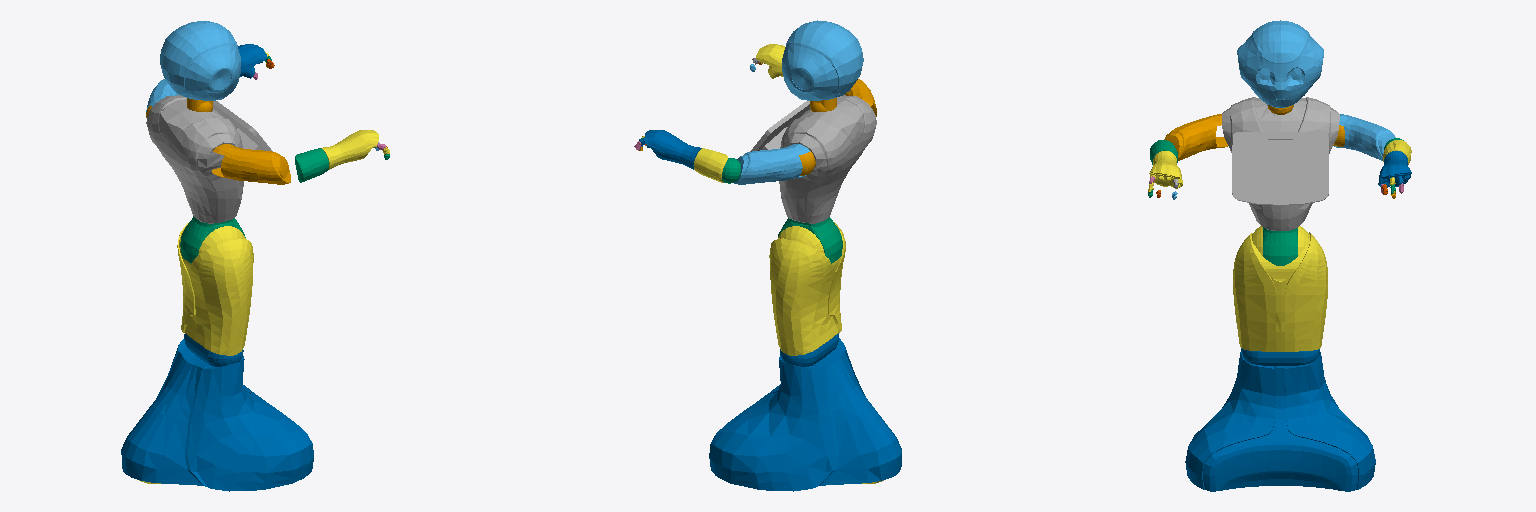
--- Facts derived from the render (not from the file) ---
3 views of the same robot in one strip: view 1: azimuth 30°, elevation 25°; view 2: azimuth 150°, elevation 25°; view 3: azimuth 270°, elevation 25° (orthographic).
Robot: JulietteY20MP — 85 links, 84 joints (19 revolute, 31 continuous, 34 fixed); root link base_link; default pose: joints at zero except 6 at the middle of their limits (LShoulderRoll = 0.7854, LElbowRoll = -0.7854, LHand = 0.5, RShoulderRoll = -0.7854, RElbowRoll = 0.7854, RHand = 0.5).
Visible links, largest first — view 1: Tibia, torso, Pelvis, Head, RBicep, r_wrist, Hip, RForeArm, l_wrist; view 2: Tibia, torso, Pelvis, Head, LBicep, l_wrist, Hip, LForeArm, r_wrist; view 3: Tibia, torso, Pelvis, Head, RBicep, LBicep, Hip, r_wrist, l_wrist.
Boxes of the visible links, left/top/right/bottom form: Tibia: left=121, top=334, right=313, bottom=491; torso: left=146, top=95, right=272, bottom=223; Pelvis: left=177, top=223, right=253, bottom=355; Head: left=160, top=21, right=240, bottom=100; RBicep: left=212, top=144, right=290, bottom=184; r_wrist: left=321, top=130, right=378, bottom=169; Hip: left=180, top=216, right=245, bottom=263; RForeArm: left=295, top=148, right=328, bottom=182; l_wrist: left=238, top=44, right=266, bottom=78; Tibia: left=709, top=333, right=901, bottom=491; torso: left=750, top=95, right=876, bottom=223; Pelvis: left=769, top=222, right=845, bottom=355; Head: left=782, top=20, right=863, bottom=100; LBicep: left=734, top=144, right=809, bottom=184; l_wrist: left=644, top=130, right=701, bottom=169; Hip: left=778, top=217, right=842, bottom=263; LForeArm: left=694, top=148, right=727, bottom=182; r_wrist: left=756, top=44, right=784, bottom=78; Tibia: left=1185, top=348, right=1375, bottom=491; torso: left=1222, top=97, right=1339, bottom=230; Pelvis: left=1233, top=226, right=1327, bottom=351; Head: left=1237, top=20, right=1323, bottom=107; RBicep: left=1164, top=114, right=1227, bottom=160; LBicep: left=1334, top=114, right=1395, bottom=160; Hip: left=1263, top=227, right=1297, bottom=265; r_wrist: left=1149, top=151, right=1182, bottom=188; l_wrist: left=1378, top=151, right=1411, bottom=187.
Bounding box of the posed robot: 0.5776 × 0.6574 × 1.21 m (x, y, z).
30 mesh visuals loaded from 47 distinct referenced files (30 binary STL); not drawn: 17 (reference not matched to a file when rendering).

URDF robot description (JulietteY20MP):
<?xml version="1.0" ?>
<!-- =================================================================================== -->
<!-- |    This document was autogenerated by xacro from gps/mjc_models/pepper_1.7/pepper1.0_generated_urdf/pepper_robot.xacro | -->
<!-- |    EDITING THIS FILE BY HAND IS NOT RECOMMENDED                                 | -->
<!-- =================================================================================== -->
<!--******************************************************************
 ****** File automatically generated by generate_urdf.py script ******
 *********************************************************************-->
<robot name="JulietteY20MP" xmlns:xacro="http://www.ros.org/wiki/xacro">

  <mujoco>
        <compiler 
        meshdir="meshes_mujoco/" 
        fusestatic= "true" 
        balanceinertia="true" 
        strippath="true" 
        discardvisual="false" />
  </mujoco>

  <joint name="HeadYaw" type="revolute">
    <parent link="torso"/>
    <child link="Neck"/>
    <origin rpy="0 0 0" xyz="-0.038 0 0.1699"/>
    <axis xyz="0 0 1.0"/>
    <limit effort="5.428" lower="-2.08567" upper="2.08567" velocity="7.33998"/>
  </joint>
  <link name="Neck">
    <inertial>
      <mass value="0.27391"/>
      <inertia ixx="0.000343501" ixy="0" ixz="-1.88563e-05" iyy="0.000493898" iyz="2.09863e-06" izz="0.000215252"/>
      <origin rpy="0 0 0" xyz="-0.00207 0 -0.02636"/>
    </inertial>
    <visual>
      <geometry>
        <mesh filename="package://pepper_meshes/meshes/1.0/HeadYaw.stl" scale="0.1 0.1 0.1"/>
      </geometry>
      <origin rpy="0 0 0" xyz="0 0 0"/>
    </visual>
    <collision>
      <geometry>
        <mesh filename="package://pepper_meshes/meshes/1.0/HeadYaw_0.10.stl" scale="0.1 0.1 0.1"/>
      </geometry>
      <origin rpy="0 0 0" xyz="0 0 0"/>
    </collision>
  </link>
  <joint name="HeadPitch" type="revolute">
    <parent link="Neck"/>
    <child link="Head"/>
    <origin rpy="0 0 0" xyz="0 0 0"/>
    <axis xyz="0 1.0 0"/>
    <limit effort="2.666" lower="-0.706858" upper="0.637045" velocity="9.22756"/>
  </joint>
  <link name="Head">
    <inertial>
      <mass value="1.51893"/>
      <inertia ixx="0.00597209" ixy="0" ixz="0.000125138" iyy="0.0059054" iyz="4.3428e-07" izz="0.00570374"/>
      <origin rpy="0 0 0" xyz="0.00312 0 0.11152"/>
    </inertial>
    <visual>
      <geometry>
        <mesh filename="package://pepper_meshes/meshes/1.0/HeadPitch.stl" scale="0.1 0.1 0.1"/>
      </geometry>
      <origin rpy="0 0 0" xyz="0 0 0"/>
    </visual>
    <collision>
      <geometry>
        <mesh filename="package://pepper_meshes/meshes/1.0/HeadPitch_0.10.stl" scale="0.1 0.1 0.1"/>
      </geometry>
      <origin rpy="0 0 0" xyz="0 0 0"/>
    </collision>
  </link>
  <joint name="HipRoll" type="revolute">
    <parent link="torso"/>
    <child link="Hip"/>
    <origin rpy="0 0 0" xyz="2e-05 0 -0.139"/>
    <axis xyz="1.0 0 0"/>
    <limit effort="10.1884" lower="-0.514872" upper="0.514872" velocity="2.27032"/>
  </joint>
  <link name="Hip">
    <inertial>
      <mass value="1.02338"/>
      <inertia ixx="0.00502422" ixy="0" ixz="-2.54911e-05" iyy="0.00640971" iyz="0.000159449" izz="0.00441082"/>
      <origin rpy="0 0 0" xyz="0.00032 0 -0.06039"/>
    </inertial>
    <visual>
      <geometry>
        <mesh filename="package://pepper_meshes/meshes/1.0/HipRoll.stl" scale="0.1 0.1 0.1"/>
      </geometry>
      <origin rpy="0 0 0" xyz="0 0 0"/>
    </visual>
    <collision>
      <geometry>
        <mesh filename="package://pepper_meshes/meshes/1.0/HipRoll_0.10.stl" scale="0.1 0.1 0.1"/>
      </geometry>
      <origin rpy="0 0 0" xyz="0 0 0"/>
    </collision>
  </link>
  <joint name="HipPitch" type="revolute">
    <parent link="Hip"/>
    <child link="Pelvis"/>
    <origin rpy="0 0 0" xyz="0 0 -0.079"/>
    <axis xyz="0 1.0 0"/>
    <limit effort="19.787" lower="-1.03847" upper="1.03847" velocity="2.93276"/>
  </joint>
  <link name="Pelvis">
    <inertial>
      <mass value="2.45917"/>
      <inertia ixx="0.034351" ixy="0" ixz="0.000223034" iyy="0.0303122" iyz="-8.37542e-05" izz="0.0143771"/>
      <origin rpy="0 0 0" xyz="0.00237 0 -0.09654"/>
    </inertial>
    <visual>
      <geometry>
        <mesh filename="package://pepper_meshes/meshes/1.0/HipPitch.stl" scale="0.1 0.1 0.1"/>
      </geometry>
      <origin rpy="0 0 0" xyz="0 0 0"/>
    </visual>
    <collision>
      <geometry>
        <mesh filename="package://pepper_meshes/meshes/1.0/HipPitch_0.10.stl" scale="0.1 0.1 0.1"/>
      </geometry>
      <origin rpy="0 0 0" xyz="0 0 0"/>
    </collision>
  </link>
  <joint name="KneePitch" type="revolute">
    <parent link="Pelvis"/>
    <child link="Tibia"/>
    <origin rpy="0 0 0" xyz="0 0 -0.268"/>
    <axis xyz="0 1.0 0"/>
    <limit effort="27.702" lower="-0.514872" upper="0.514872" velocity="2.93276"/>
  </joint>
  <link name="Tibia">
    <inertial>
      <mass value="11.6015"/>
      <inertia ixx="0.129229" ixy="-0.000401943" ixz="0.00048556" iyy="0.122839" iyz="-1.01666e-08" izz="0.108168"/>
      <origin rpy="0 0 0" xyz="0.00220451 0 -0.185729"/>
    </inertial>
    <visual>
      <geometry>
        <mesh filename="package://pepper_meshes/meshes/1.0/KneePitch.stl" scale="0.1 0.1 0.1"/>
      </geometry>
      <origin rpy="0 0 0" xyz="0 0 0"/>
    </visual>
    <collision>
      <geometry>
        <mesh filename="package://pepper_meshes/meshes/1.0/KneePitch_0.10.stl" scale="0.1 0.1 0.1"/>
      </geometry>
      <origin rpy="0 0 0" xyz="0 0 0"/>
    </collision>
  </link>
  <joint name="base_footprint_joint" type="fixed">
    <parent link="Tibia"/>
    <child link="base_footprint"/>
    <origin rpy="0 0 0" xyz="0 0 -0.334"/>
  </joint>
  <link name="base_footprint"/>
  <link name="base_link"/>
  <joint name="base_link_fixedjoint" type="fixed">
    <parent link="base_link"/>
    <child link="torso"/>
    <origin rpy="0 0 0" xyz="0 0 0"/>
    <axis xyz="0 0 0"/>
  </joint>
  <link name="torso">
    <inertial>
      <mass value="3.99533"/>
      <inertia ixx="0.0452761" ixy="0" ixz="0.00499091" iyy="0.0432702" iyz="-0.000266886" izz="0.0258881"/>
      <origin rpy="0 0 0" xyz="0.00322 0 -0.01029"/>
    </inertial>
    <visual>
      <geometry>
        <mesh filename="package://pepper_meshes/meshes/1.0/Torso.stl" scale="0.1 0.1 0.1"/>
      </geometry>
      <origin rpy="0 0 0" xyz="0 0 0"/>
    </visual>
    <collision>
      <geometry>
        <mesh filename="package://pepper_meshes/meshes/1.0/Torso_0.10.stl" scale="0.1 0.1 0.1"/>
      </geometry>
      <origin rpy="0 0 0" xyz="0 0 0"/>
    </collision>
  </link>
  <joint name="LShoulderPitch" type="revolute">
    <parent link="torso"/>
    <child link="LShoulder"/>
    <origin rpy="0 0 0" xyz="-0.057 0.14974 0.08682"/>
    <axis xyz="0 1.0 0"/>
    <limit effort="5.428" lower="-2.08567" upper="2.08567" velocity="7.33998"/>
  </joint>
  <link name="LShoulder">
    <inertial>
      <mass value="0.3125"/>
      <inertia ixx="0.000361198" ixy="-1.98347e-06" ixz="6.35907e-07" iyy="0.000137229" iyz="-5.68878e-06" izz="0.000399194"/>
      <origin rpy="0 0 0" xyz="0.00018 -0.01856 0.00099"/>
    </inertial>
    <visual>
      <geometry>
        <mesh filename="package://pepper_meshes/meshes/1.0/LShoulderPitch.stl" scale="0.1 0.1 0.1"/>
      </geometry>
      <origin rpy="0 0 0" xyz="0 0 0"/>
    </visual>
    <collision>
      <geometry>
        <mesh filename="package://pepper_meshes/meshes/1.0/LShoulderPitch_0.10.stl" scale="0.1 0.1 0.1"/>
      </geometry>
      <origin rpy="0 0 0" xyz="0 0 0"/>
    </collision>
  </link>
  <joint name="LShoulderRoll" type="revolute">
    <parent link="LShoulder"/>
    <child link="LBicep"/>
    <origin rpy="0 0 0" xyz="0 0 0"/>
    <axis xyz="0 0 1.0"/>
    <limit effort="2.666" lower="0.00872665" upper="1.56207" velocity="9.22756"/>
  </joint>
  <link name="LBicep">
    <inertial>
      <mass value="0.50527"/>
      <inertia ixx="0.000500872" ixy="-3.55918e-05" ixz="8.51263e-05" iyy="0.00126284" iyz="9.06813e-06" izz="0.00115718"/>
      <origin rpy="0 0 0" xyz="0.08151 0.01284 -0.01017"/>
    </inertial>
    <visual>
      <geometry>
        <mesh filename="package://pepper_meshes/meshes/1.0/LShoulderRoll.stl" scale="0.1 0.1 0.1"/>
      </geometry>
      <origin rpy="0 0 0" xyz="0 0 0"/>
    </visual>
    <collision>
      <geometry>
        <mesh filename="package://pepper_meshes/meshes/1.0/LShoulderRoll_0.10.stl" scale="0.1 0.1 0.1"/>
      </geometry>
      <origin rpy="0 0 0" xyz="0 0 0"/>
    </collision>
  </link>
  <joint name="LElbowYaw" type="revolute">
    <parent link="LBicep"/>
    <child link="LElbow"/>
    <origin rpy="0 -0.157079 0" xyz="0.1812 0.015 0.00013"/>
    <axis xyz="1.0 0 0"/>
    <limit effort="5.428" lower="-2.08567" upper="2.08567" velocity="7.33998"/>
  </joint>
  <link name="LElbow">
    <inertial>
      <mass value="0.27495"/>
      <inertia ixx="0.000122971" ixy="9.86024e-07" ixz="-2.55838e-05" iyy="0.000331766" iyz="-1.98925e-06" izz="0.000303047"/>
      <origin rpy="0 0 0" xyz="-0.02297 -0.00019 0.00119"/>
    </inertial>
    <visual>
      <geometry>
        <mesh filename="package://pepper_meshes/meshes/1.0/LElbowYaw.stl" scale="0.1 0.1 0.1"/>
      </geometry>
      <origin rpy="0 0 0" xyz="0 0 0"/>
    </visual>
    <collision>
      <geometry>
        <mesh filename="package://pepper_meshes/meshes/1.0/LElbowYaw_0.10.stl" scale="0.1 0.1 0.1"/>
      </geometry>
      <origin rpy="0 0 0" xyz="0 0 0"/>
    </collision>
  </link>
  <joint name="LElbowRoll" type="revolute">
    <parent link="LElbow"/>
    <child link="LForeArm"/>
    <origin rpy="0 0 0" xyz="0 0 0"/>
    <axis xyz="0 0 1.0"/>
    <limit effort="2.666" lower="-1.56207" upper="-0.00872665" velocity="9.22756"/>
  </joint>
  <link name="LForeArm">
    <inertial>
      <mass value="0.16579"/>
      <inertia ixx="0.00156513" ixy="1.47517e-05" ixz="-6.05746e-05" iyy="0.00173219" iyz="-1.7619e-07" izz="0.000273081"/>
      <origin rpy="0 0 0" xyz="0.0593 0.00271 -0.01014"/>
    </inertial>
    <visual>
      <geometry>
        <mesh filename="package://pepper_meshes/meshes/1.0/LElbowRoll.stl" scale="0.1 0.1 0.1"/>
      </geometry>
      <origin rpy="0 0 0" xyz="0 0 0"/>
    </visual>
    <collision>
      <geometry>
        <mesh filename="package://pepper_meshes/meshes/1.0/LElbowRoll_0.10.stl" scale="0.1 0.1 0.1"/>
      </geometry>
      <origin rpy="0 0 0" xyz="0 0 0"/>
    </collision>
  </link>
  <joint name="LWristYaw" type="revolute">
    <parent link="LForeArm"/>
    <child link="l_wrist"/>
    <origin rpy="0 0 0" xyz="0.15 0 0"/>
    <axis xyz="1.0 0 0"/>
    <limit effort="0.2014" lower="-1.82387" upper="1.82387" velocity="17.3835"/>
  </joint>
  <link name="l_wrist">
    <inertial>
      <mass value="0.27555"/>
      <inertia ixx="0.000151643" ixy="1.06629e-05" ixz="2.89509e-06" iyy="0.000431099" iyz="-3.13715e-06" izz="0.000456172"/>
      <origin rpy="0 0 0" xyz="0.03536 -0.00072 -0.00207"/>
    </inertial>
    <visual>
      <geometry>
        <mesh filename="package://pepper_meshes/meshes/1.0/LWristYaw.stl" scale="0.1 0.1 0.1"/>
      </geometry>
      <origin rpy="0 0 0" xyz="0 0 0"/>
    </visual>
    <collision>
      <geometry>
        <mesh filename="package://pepper_meshes/meshes/1.0/LWristYaw_0.10.stl" scale="0.1 0.1 0.1"/>
      </geometry>
      <origin rpy="0 0 0" xyz="0 0 0"/>
    </collision>
  </link>
  <joint name="LGrasp" type="revolute">
    <parent link="l_wrist"/>
    <child link="l_grasp_link"/>
    <origin rpy="0 0 0" xyz="0.065 0 0"/>
    <limit effort="0.0" lower="0.0" upper="0.0" velocity="0.0"/>
  </joint>
  <link name="l_grasp_link">
    <inertial>
      <mass value="2e-06"/>
      <inertia ixx="1.1e-09" ixy="0" ixz="0" iyy="1.1e-09" iyz="0" izz="1.1e-09"/>
    </inertial>
  </link>
  <joint name="LHand" type="revolute">
    <parent link="l_grasp_link"/>
    <child link="l_gripper"/>
    <origin rpy="0 0 0" xyz="0.025 0 0"/>
    <axis xyz="1.0 0 0"/>
    <limit effort="0.144" lower="0.02" upper="0.98" velocity="12.56"/>
  </joint>
  <link name="l_gripper">
    <inertial>
      <mass value="2e-06"/>
      <inertia ixx="1.1e-09" ixy="0" ixz="0" iyy="1.1e-09" iyz="0" izz="1.1e-09"/>
    </inertial>
  </link>
  <joint name="RShoulderPitch" type="revolute">
    <parent link="torso"/>
    <child link="RShoulder"/>
    <origin rpy="0 0 0" xyz="-0.057 -0.14974 0.08682"/>
    <axis xyz="0 1.0 0"/>
    <limit effort="5.428" lower="-2.08567" upper="2.08567" velocity="7.33998"/>
  </joint>
  <link name="RShoulder">
    <inertial>
      <mass value="0.3125"/>
      <inertia ixx="0.000361198" ixy="1.98347e-06" ixz="6.35907e-07" iyy="0.000137229" iyz="5.68878e-06" izz="0.000399194"/>
      <origin rpy="0 0 0" xyz="0.00018 0.01856 0.00099"/>
    </inertial>
    <visual>
      <geometry>
        <mesh filename="package://pepper_meshes/meshes/1.0/RShoulderPitch.stl" scale="0.1 0.1 0.1"/>
      </geometry>
      <origin rpy="0 0 0" xyz="0 0 0"/>
    </visual>
    <collision>
      <geometry>
        <mesh filename="package://pepper_meshes/meshes/1.0/RShoulderPitch_0.10.stl" scale="0.1 0.1 0.1"/>
      </geometry>
      <origin rpy="0 0 0" xyz="0 0 0"/>
    </collision>
  </link>
  <joint name="RShoulderRoll" type="revolute">
    <parent link="RShoulder"/>
    <child link="RBicep"/>
    <origin rpy="0 0 0" xyz="0 0 0"/>
    <axis xyz="0 0 1.0"/>
    <limit effort="2.666" lower="-1.56207" upper="-0.00872665" velocity="9.22756"/>
  </joint>
  <link name="RBicep">
    <inertial>
      <mass value="0.50527"/>
      <inertia ixx="0.000500872" ixy="3.55918e-05" ixz="8.51263e-05" iyy="0.00126284" iyz="-9.06813e-06" izz="0.00115718"/>
      <origin rpy="0 0 0" xyz="0.08151 -0.01284 -0.01017"/>
    </inertial>
    <visual>
      <geometry>
        <mesh filename="package://pepper_meshes/meshes/1.0/RShoulderRoll.stl" scale="0.1 0.1 0.1"/>
      </geometry>
      <origin rpy="0 0 0" xyz="0 0 0"/>
    </visual>
    <collision>
      <geometry>
        <mesh filename="package://pepper_meshes/meshes/1.0/RShoulderRoll_0.10.stl" scale="0.1 0.1 0.1"/>
      </geometry>
      <origin rpy="0 0 0" xyz="0 0 0"/>
    </collision>
  </link>
  <joint name="RElbowYaw" type="revolute">
    <parent link="RBicep"/>
    <child link="RElbow"/>
    <origin rpy="0 -0.157079 0" xyz="0.1812 -0.015 0.00013"/>
    <axis xyz="1.0 0 0"/>
    <limit effort="5.428" lower="-2.08567" upper="2.08567" velocity="7.33998"/>
  </joint>
  <link name="RElbow">
    <inertial>
      <mass value="0.27495"/>
      <inertia ixx="0.000122971" ixy="-9.86024e-07" ixz="-2.55838e-05" iyy="0.000331766" iyz="1.98925e-06" izz="0.000303047"/>
      <origin rpy="0 0 0" xyz="-0.02297 0.00019 0.00119"/>
    </inertial>
    <visual>
      <geometry>
        <mesh filename="package://pepper_meshes/meshes/1.0/RElbowYaw.stl" scale="0.1 0.1 0.1"/>
      </geometry>
      <origin rpy="0 0 0" xyz="0 0 0"/>
    </visual>
    <collision>
      <geometry>
        <mesh filename="package://pepper_meshes/meshes/1.0/RElbowYaw_0.10.stl" scale="0.1 0.1 0.1"/>
      </geometry>
      <origin rpy="0 0 0" xyz="0 0 0"/>
    </collision>
  </link>
  <joint name="RElbowRoll" type="revolute">
    <parent link="RElbow"/>
    <child link="RForeArm"/>
    <origin rpy="0 0 0" xyz="0 0 0"/>
    <axis xyz="0 0 1.0"/>
    <limit effort="2.666" lower="0.00872665" upper="1.56207" velocity="9.22756"/>
  </joint>
  <link name="RForeArm">
    <inertial>
      <mass value="0.16579"/>
      <inertia ixx="0.00156513" ixy="-1.47517e-05" ixz="-6.05746e-05" iyy="0.00173219" iyz="1.7619e-07" izz="0.000273081"/>
      <origin rpy="0 0 0" xyz="0.0593 -0.00271 -0.01014"/>
    </inertial>
    <visual>
      <geometry>
        <mesh filename="package://pepper_meshes/meshes/1.0/RElbowRoll.stl" scale="0.1 0.1 0.1"/>
      </geometry>
      <origin rpy="0 0 0" xyz="0 0 0"/>
    </visual>
    <collision>
      <geometry>
        <mesh filename="package://pepper_meshes/meshes/1.0/RElbowRoll_0.10.stl" scale="0.1 0.1 0.1"/>
      </geometry>
      <origin rpy="0 0 0" xyz="0 0 0"/>
    </collision>
  </link>
  <joint name="RWristYaw" type="revolute">
    <parent link="RForeArm"/>
    <child link="r_wrist"/>
    <origin rpy="0 0 0" xyz="0.15 0 0"/>
    <axis xyz="1.0 0 0"/>
    <limit effort="0.2014" lower="-1.82387" upper="1.82387" velocity="17.3835"/>
  </joint>
  <link name="r_wrist">
    <inertial>
      <mass value="0.27555"/>
      <inertia ixx="0.000151643" ixy="-1.06629e-05" ixz="2.89509e-06" iyy="0.000431099" iyz="3.13715e-06" izz="0.000456172"/>
      <origin rpy="0 0 0" xyz="0.03536 0.00072 -0.00207"/>
    </inertial>
    <visual>
      <geometry>
        <mesh filename="package://pepper_meshes/meshes/1.0/RWristYaw.stl" scale="0.1 0.1 0.1"/>
      </geometry>
      <origin rpy="0 0 0" xyz="0 0 0"/>
    </visual>
    <collision>
      <geometry>
        <mesh filename="package://pepper_meshes/meshes/1.0/RWristYaw_0.10.stl" scale="0.1 0.1 0.1"/>
      </geometry>
      <origin rpy="0 0 0" xyz="0 0 0"/>
    </collision>
  </link>
  <joint name="RGrasp" type="revolute">
    <parent link="r_wrist"/>
    <child link="r_grasp_link"/>
    <origin rpy="0.0 0 0" xyz="0.065 0 0"/>
    <limit effort="0.0" lower="0.0" upper="0.0" velocity="0.0"/>
  </joint>
  <link name="r_grasp_link">
    <inertial>
      <mass value="2e-06"/>
      <inertia ixx="1.1e-09" ixy="0" ixz="0" iyy="1.1e-09" iyz="0" izz="1.1e-09"/>
    </inertial>
  </link>
  <joint name="RHand" type="revolute">
    <parent link="r_grasp_link"/>
    <child link="r_gripper"/>
    <origin rpy="0 0 0" xyz="0.025 0 0"/>
    <axis xyz="1.0 0 0"/>
    <limit effort="0.144" lower="0.02" upper="0.98" velocity="12.56"/>
  </joint>
  <link name="r_gripper">
    <inertial>
      <mass value="2e-06"/>
      <inertia ixx="1.1e-09" ixy="0" ixz="0" iyy="1.1e-09" iyz="0" izz="1.1e-09"/>
    </inertial>
  </link>
  <link name="SonarBack_frame"/>
  <joint name="Sonar/Back_sensor_fixedjoint" type="fixed">
    <parent link="Tibia"/>
    <child link="SonarBack_frame"/>
    <origin rpy="-1.81761e-08 -0.209438 -3.14159" xyz="-0.0718 0 -0.0534"/>
    <axis xyz="0 0 0"/>
  </joint>
  <link name="CameraBottom_optical_frame"/>
  <joint name="CameraBottom_optical_frame_fixedjoint" type="fixed">
    <parent link="CameraBottom_frame"/>
    <child link="CameraBottom_optical_frame"/>
    <origin rpy="-1.57079632679 0 -1.57079632679" xyz="0 0 0"/>
  </joint>
  <link name="CameraDepth_optical_frame"/>
  <joint name="CameraDepth_optical_frame_fixedjoint" type="fixed">
    <parent link="CameraDepth_frame"/>
    <child link="CameraDepth_optical_frame"/>
    <origin rpy="-1.57079632679 0 -1.57079632679" xyz="0 0 0"/>
  </joint>
  <link name="LHandTouchBack_frame"/>
  <joint name="LHand/Touch/Back_sensor_fixedjoint" type="fixed">
    <parent link="l_wrist"/>
    <child link="LHandTouchBack_frame"/>
    <origin rpy="1.5708 -1.5708 -3.14159" xyz="0.0523 0 0.0304"/>
    <axis xyz="0 0 0"/>
  </joint>
  <link name="VerticalLeftLaser_frame"/>
  <joint name="LaserSensor/VerticalLeft_sensor_fixedjoint" type="fixed">
    <parent link="Tibia"/>
    <child link="VerticalLeftLaser_frame"/>
    <origin rpy="0 0.349066 0" xyz="0.0562 0 -0.0692"/>
    <axis xyz="0 0 0"/>
  </joint>
  <link name="SurroundingFrontLaser_device_frame"/>
  <joint name="LaserSensor/Front_sensor_fixedjoint" type="fixed">
    <parent link="Tibia"/>
    <child link="SurroundingFrontLaser_device_frame"/>
    <origin rpy="0 0.349066 0" xyz="0.0562 0 -0.0692"/>
    <axis xyz="0 0 0"/>
  </joint>
  <link name="BumperB_frame"/>
  <joint name="Bumper/Back_sensor_fixedjoint" type="fixed">
    <parent link="Tibia"/>
    <child link="BumperB_frame"/>
    <origin rpy="0 0 -3.14159" xyz="-0.251 0 -0.264"/>
    <axis xyz="0 0 0"/>
  </joint>
  <link name="SurroundingLeftLaser_frame"/>
  <joint name="LaserSensor/Left_projected_sensor_fixedjoint" type="fixed">
    <parent link="Tibia"/>
    <child link="SurroundingLeftLaser_frame"/>
    <origin rpy="0 0 1.75728" xyz="-0.018 0.0899 -0.334"/>
    <axis xyz="0 0 0"/>
  </joint>
  <link name="ShovelLaser_frame"/>
  <joint name="LaserSensor/Shovel_sensor_fixedjoint" type="fixed">
    <parent link="Tibia"/>
    <child link="ShovelLaser_frame"/>
    <origin rpy="0 0.349066 0" xyz="0.0562 0 -0.0692"/>
    <axis xyz="0 0 0"/>
  </joint>
  <link name="ImuTorsoAccelerometer_frame"/>
  <joint name="Accelerometer_sensor_fixedjoint" type="fixed">
    <parent link="torso"/>
    <child link="ImuTorsoAccelerometer_frame"/>
    <origin rpy="0 0 0" xyz="0.00239 -0.03575 0.00626"/>
    <axis xyz="0 0 0"/>
  </joint>
  <link name="RSpeaker_frame"/>
  <joint name="SpeakerRight_sensor_fixedjoint" type="fixed">
    <parent link="Head"/>
    <child link="RSpeaker_frame"/>
    <origin rpy="0 0 0" xyz="0 0 0"/>
    <axis xyz="0 0 0"/>
  </joint>
  <link name="SurroundingRightLaser_device_frame"/>
  <joint name="LaserSensor/Right_sensor_fixedjoint" type="fixed">
    <parent link="Tibia"/>
    <child link="SurroundingRightLaser_device_frame"/>
    <origin rpy="0 0.349066 -1.5708" xyz="-0.018 -0.0899 -0.0759"/>
    <axis xyz="0 0 0"/>
  </joint>
  <link name="LSpeaker_frame"/>
  <joint name="SpeakerLeft_sensor_fixedjoint" type="fixed">
    <parent link="Head"/>
    <child link="LSpeaker_frame"/>
    <origin rpy="0 0 0" xyz="0 0 0"/>
    <axis xyz="0 0 0"/>
  </joint>
  <link name="RHandTouchBack_frame"/>
  <joint name="RHand/Touch/Back_sensor_fixedjoint" type="fixed">
    <parent link="r_wrist"/>
    <child link="RHandTouchBack_frame"/>
    <origin rpy="1.5708 -1.5708 -3.14159" xyz="0.0523 0 0.0304"/>
    <axis xyz="0 0 0"/>
  </joint>
  <link name="CameraTop_frame"/>
  <joint name="CameraTop_sensor_fixedjoint" type="fixed">
    <parent link="Head"/>
    <child link="CameraTop_frame"/>
    <origin rpy="0 0 0" xyz="0.08601 0 0.16284"/>
    <axis xyz="0 0 0"/>
  </joint>
  <link name="SurroundingLeftLaser_device_frame"/>
  <joint name="LaserSensor/Left_sensor_fixedjoint" type="fixed">
    <parent link="Tibia"/>
    <child link="SurroundingLeftLaser_device_frame"/>
    <origin rpy="0 0.349066 1.5708" xyz="-0.018 0.0899 -0.0759"/>
    <axis xyz="0 0 0"/>
  </joint>
  <link name="CameraDepth_frame"/>
  <joint name="CameraDepth_sensor_fixedjoint" type="fixed">
    <parent link="Head"/>
    <child link="CameraDepth_frame"/>
    <origin rpy="0 0 0" xyz="0.05138 0.039 0.1194"/>
    <axis xyz="0 0 0"/>
  </joint>
  <link name="SurroundingRightLaser_frame"/>
  <joint name="LaserSensor/Right_projected_sensor_fixedjoint" type="fixed">
    <parent link="Tibia"/>
    <child link="SurroundingRightLaser_frame"/>
    <origin rpy="0 0 -1.75728" xyz="-0.018 -0.0899 -0.334"/>
    <axis xyz="0 0 0"/>
  </joint>
  <link name="HeadTouchFront_frame"/>
  <joint name="Head/Touch/Front_sensor_fixedjoint" type="fixed">
    <parent link="Head"/>
    <child link="HeadTouchFront_frame"/>
    <origin rpy="0 0.20944 0" xyz="0.028175 0 0.21267"/>
    <axis xyz="0 0 0"/>
  </joint>
  <link name="VerticalRightLaser_frame"/>
  <joint name="LaserSensor/VerticalRight_sensor_fixedjoint" type="fixed">
    <parent link="Tibia"/>
    <child link="VerticalRightLaser_frame"/>
    <origin rpy="0 0.349066 0" xyz="0.0562 0 -0.0692"/>
    <axis xyz="0 0 0"/>
  </joint>
  <link name="SonarFront_frame"/>
  <joint name="Sonar/Front_sensor_fixedjoint" type="fixed">
    <parent link="Tibia"/>
    <child link="SonarFront_frame"/>
    <origin rpy="0 -0.322858 0" xyz="0.0699 0 -0.1023"/>
    <axis xyz="0 0 0"/>
  </joint>
  <link name="BumperFL_frame"/>
  <joint name="Bumper/FrontLeft_sensor_fixedjoint" type="fixed">
    <parent link="Tibia"/>
    <child link="BumperFL_frame"/>
    <origin rpy="0 0 0.48886" xyz="0.129 0.227 -0.264"/>
    <axis xyz="0 0 0"/>
  </joint>
  <link name="CameraBottom_frame"/>
  <joint name="CameraBottom_sensor_fixedjoint" type="fixed">
    <parent link="Head"/>
    <child link="CameraBottom_frame"/>
    <origin rpy="0 0.698132 0" xyz="0.09262 0 0.06177"/>
    <axis xyz="0 0 0"/>
  </joint>
  <link name="CameraTop_optical_frame"/>
  <joint name="CameraTop_optical_frame_fixedjoint" type="fixed">
    <parent link="CameraTop_frame"/>
    <child link="CameraTop_optical_frame"/>
    <origin rpy="-1.57079632679 0 -1.57079632679" xyz="0 0 0"/>
  </joint>
  <link name="ImuBaseAccelerometer_frame"/>
  <joint name="AccelerometerBase_sensor_fixedjoint" type="fixed">
    <parent link="Tibia"/>
    <child link="ImuBaseAccelerometer_frame"/>
    <origin rpy="0 0 0" xyz="0.0147 -0.0017 -0.26319"/>
    <axis xyz="0 0 0"/>
  </joint>
  <link name="ImuTorsoGyrometer_frame"/>
  <joint name="Gyrometer_sensor_fixedjoint" type="fixed">
    <parent link="torso"/>
    <child link="ImuTorsoGyrometer_frame"/>
    <origin rpy="0 0 0" xyz="0.00204 -0.03491 -0.00959"/>
    <axis xyz="0 0 0"/>
  </joint>
  <link name="Tablet_frame"/>
  <joint name="Tablet_sensor_fixedjoint" type="fixed">
    <parent link="torso"/>
    <child link="Tablet_frame"/>
    <origin rpy="0 -0.523599 0" xyz="0.0839249 0 0.06251"/>
    <axis xyz="0 0 0"/>
  </joint>
  <link name="HeadTouchRear_frame"/>
  <joint name="Head/Touch/Rear_sensor_fixedjoint" type="fixed">
    <parent link="Head"/>
    <child link="HeadTouchRear_frame"/>
    <origin rpy="0 -0.314159 0" xyz="-0.03376 0 0.21052"/>
    <axis xyz="0 0 0"/>
  </joint>
  <link name="BumperFR_frame"/>
  <joint name="Bumper/FrontRight_sensor_fixedjoint" type="fixed">
    <parent link="Tibia"/>
    <child link="BumperFR_frame"/>
    <origin rpy="0 0 -0.48886" xyz="0.129 -0.227 -0.264"/>
    <axis xyz="0 0 0"/>
  </joint>
  <link name="SurroundingFrontLaser_frame"/>
  <joint name="LaserSensor/Front_projected_sensor_fixedjoint" type="fixed">
    <parent link="Tibia"/>
    <child link="SurroundingFrontLaser_frame"/>
    <origin rpy="0 0 0" xyz="0.0562 0 -0.334"/>
    <axis xyz="0 0 0"/>
  </joint>
  <link name="ChestButton_frame"/>
  <joint name="ChestBoard/Button_sensor_fixedjoint" type="fixed">
    <parent link="torso"/>
    <child link="ChestButton_frame"/>
    <origin rpy="0 0 0" xyz="0.049871 0.001588 0.055163"/>
    <axis xyz="0 0 0"/>
  </joint>
  <link name="HeadTouchMiddle_frame"/>
  <joint name="Head/Touch/Middle_sensor_fixedjoint" type="fixed">
    <parent link="Head"/>
    <child link="HeadTouchMiddle_frame"/>
    <origin rpy="0 -0.0349066 0" xyz="0.0041 0 0.2159"/>
    <axis xyz="0 0 0"/>
  </joint>
  <link name="RFinger41_link">
    <inertial>
      <mass value="2e-06"/>
      <inertia ixx="1.1e-09" ixy="0" ixz="0" iyy="1.1e-09" iyz="0" izz="1.1e-09"/>
    </inertial>
    <visual>
      <geometry>
        <mesh filename="package://pepper_meshes/meshes/1.0/RFinger41.stl" scale="0.1 0.1 0.1"/>
      </geometry>
      <origin rpy="0 0 0" xyz="0 0 0"/>
    </visual>
    <collision>
      <geometry>
        <mesh filename="package://pepper_meshes/meshes/1.0/RFinger41_0.10.stl" scale="0.1 0.1 0.1"/>
      </geometry>
      <origin rpy="0 0 0" xyz="0 0 0"/>
    </collision>
  </link>
  <joint name="RFinger41" type="continuous">
    <parent link="r_wrist"/>
    <child link="RFinger41_link"/>
    <origin rpy="1.74402 1.04064 -0.0683394" xyz="0.074 -0.0309 0"/>
    <axis xyz="0 0 1.0"/>
    <mimic joint="RHand" multiplier="0.872665" offset="0"/>
  </joint>
  <link name="LFinger42_link">
    <inertial>
      <mass value="2e-06"/>
      <inertia ixx="1.1e-09" ixy="0" ixz="0" iyy="1.1e-09" iyz="0" izz="1.1e-09"/>
    </inertial>
    <visual>
      <geometry>
        <mesh filename="package://pepper_meshes/meshes/1.0/LFinger42.stl" scale="0.1 0.1 0.1"/>
      </geometry>
      <origin rpy="0 0 0" xyz="0 0 0"/>
    </visual>
    <collision>
      <geometry>
        <mesh filename="package://pepper_meshes/meshes/1.0/LFinger42_0.10.stl" scale="0.1 0.1 0.1"/>
      </geometry>
      <origin rpy="0 0 0" xyz="0 0 0"/>
    </collision>
  </link>
  <joint name="LFinger42" type="continuous">
    <parent link="LFinger41_link"/>
    <child link="LFinger42_link"/>
    <origin rpy="0 0 -1.0472" xyz="0.018 0 0"/>
    <axis xyz="0 0 1.0"/>
    <mimic joint="LHand" multiplier="0.872665" offset="0"/>
  </joint>
  <link name="RFinger12_link">
    <inertial>
      <mass value="2e-06"/>
      <inertia ixx="1.1e-09" ixy="0" ixz="0" iyy="1.1e-09" iyz="0" izz="1.1e-09"/>
    </inertial>
    <visual>
      <geometry>
        <mesh filename="package://pepper_meshes/meshes/1.0/RFinger12.stl" scale="0.1 0.1 0.1"/>
      </geometry>
      <origin rpy="0 0 0" xyz="0 0 0"/>
    </visual>
    <collision>
      <geometry>
        <mesh filename="package://pepper_meshes/meshes/1.0/RFinger12_0.10.stl" scale="0.1 0.1 0.1"/>
      </geometry>
      <origin rpy="0 0 0" xyz="0 0 0"/>
    </collision>
  </link>
  <joint name="RFinger12" type="continuous">
    <parent link="RFinger11_link"/>
    <child link="RFinger12_link"/>
    <origin rpy="0 0 -1.0472" xyz="0.018 0 0"/>
    <axis xyz="0 0 1.0"/>
    <mimic joint="RHand" multiplier="0.872665" offset="0"/>
  </joint>
  <link name="LFinger33_link">
    <inertial>
      <mass value="2e-06"/>
      <inertia ixx="1.1e-09" ixy="0" ixz="0" iyy="1.1e-09" iyz="0" izz="1.1e-09"/>
    </inertial>
    <visual>
      <geometry>
        <mesh filename="package://pepper_meshes/meshes/1.0/LFinger33.stl" scale="0.1 0.1 0.1"/>
      </geometry>
      <origin rpy="0 0 0" xyz="0 0 0"/>
    </visual>
    <collision>
      <geometry>
        <mesh filename="package://pepper_meshes/meshes/1.0/LFinger33_0.10.stl" scale="0.1 0.1 0.1"/>
      </geometry>
      <origin rpy="0 0 0" xyz="0 0 0"/>
    </collision>
  </link>
  <joint name="LFinger33" type="continuous">
    <parent link="LFinger32_link"/>
    <child link="LFinger33_link"/>
    <origin rpy="0 0 -1.0472" xyz="0.018 0 0"/>
    <axis xyz="0 0 1.0"/>
    <mimic joint="LHand" multiplier="0.872665" offset="0"/>
  </joint>
  <link name="RFinger31_link">
    <inertial>
      <mass value="2e-06"/>
      <inertia ixx="1.1e-09" ixy="0" ixz="0" iyy="1.1e-09" iyz="0" izz="1.1e-09"/>
    </inertial>
    <visual>
      <geometry>
        <mesh filename="package://pepper_meshes/meshes/1.0/RFinger31.stl" scale="0.1 0.1 0.1"/>
      </geometry>
      <origin rpy="0 0 0" xyz="0 0 0"/>
    </visual>
    <collision>
      <geometry>
        <mesh filename="package://pepper_meshes/meshes/1.0/RFinger31_0.10.stl" scale="0.1 0.1 0.1"/>
      </geometry>
      <origin rpy="0 0 0" xyz="0 0 0"/>
    </collision>
  </link>
  <joint name="RFinger31" type="continuous">
    <parent link="r_wrist"/>
    <child link="RFinger31_link"/>
    <origin rpy="1.67523 1.04483 0.029316" xyz="0.0833 -0.0123 0.004"/>
    <axis xyz="0 0 1.0"/>
    <mimic joint="RHand" multiplier="0.872665" offset="0"/>
  </joint>
  <link name="LFinger21_link">
    <inertial>
      <mass value="2e-06"/>
      <inertia ixx="1.1e-09" ixy="0" ixz="0" iyy="1.1e-09" iyz="0" izz="1.1e-09"/>
    </inertial>
    <visual>
      <geometry>
        <mesh filename="package://pepper_meshes/meshes/1.0/LFinger21.stl" scale="0.1 0.1 0.1"/>
      </geometry>
      <origin rpy="0 0 0" xyz="0 0 0"/>
    </visual>
    <collision>
      <geometry>
        <mesh filename="package://pepper_meshes/meshes/1.0/LFinger21_0.10.stl" scale="0.1 0.1 0.1"/>
      </geometry>
      <origin rpy="0 0 0" xyz="0 0 0"/>
    </collision>
  </link>
  <joint name="LFinger21" type="continuous">
    <parent link="l_wrist"/>
    <child link="LFinger21_link"/>
    <origin rpy="1.5708 1.0472 -0.061086" xyz="0.0873 -0.0073 0.006"/>
    <axis xyz="0 0 1.0"/>
    <mimic joint="LHand" multiplier="0.872665" offset="0"/>
  </joint>
  <link name="RFinger32_link">
    <inertial>
      <mass value="2e-06"/>
      <inertia ixx="1.1e-09" ixy="0" ixz="0" iyy="1.1e-09" iyz="0" izz="1.1e-09"/>
    </inertial>
    <visual>
      <geometry>
        <mesh filename="package://pepper_meshes/meshes/1.0/RFinger32.stl" scale="0.1 0.1 0.1"/>
      </geometry>
      <origin rpy="0 0 0" xyz="0 0 0"/>
    </visual>
    <collision>
      <geometry>
        <mesh filename="package://pepper_meshes/meshes/1.0/RFinger32_0.10.stl" scale="0.1 0.1 0.1"/>
      </geometry>
      <origin rpy="0 0 0" xyz="0 0 0"/>
    </collision>
  </link>
  <joint name="RFinger32" type="continuous">
    <parent link="RFinger31_link"/>
    <child link="RFinger32_link"/>
    <origin rpy="0 0 -1.0472" xyz="0.018 0 0"/>
    <axis xyz="0 0 1.0"/>
    <mimic joint="RHand" multiplier="0.872665" offset="0"/>
  </joint>
  <link name="LFinger13_link">
    <inertial>
      <mass value="2e-06"/>
      <inertia ixx="1.1e-09" ixy="0" ixz="0" iyy="1.1e-09" iyz="0" izz="1.1e-09"/>
    </inertial>
    <visual>
      <geometry>
        <mesh filename="package://pepper_meshes/meshes/1.0/LFinger13.stl" scale="0.1 0.1 0.1"/>
      </geometry>
      <origin rpy="0 0 0" xyz="0 0 0"/>
    </visual>
    <collision>
      <geometry>
        <mesh filename="package://pepper_meshes/meshes/1.0/LFinger13_0.10.stl" scale="0.1 0.1 0.1"/>
      </geometry>
      <origin rpy="0 0 0" xyz="0 0 0"/>
    </collision>
  </link>
  <joint name="LFinger13" type="continuous">
    <parent link="LFinger12_link"/>
    <child link="LFinger13_link"/>
    <origin rpy="0 0 -1.0472" xyz="0.018 0 0"/>
    <axis xyz="0 0 1.0"/>
    <mimic joint="LHand" multiplier="0.872665" offset="0"/>
  </joint>
  <link name="LFinger32_link">
    <inertial>
      <mass value="2e-06"/>
      <inertia ixx="1.1e-09" ixy="0" ixz="0" iyy="1.1e-09" iyz="0" izz="1.1e-09"/>
    </inertial>
    <visual>
      <geometry>
        <mesh filename="package://pepper_meshes/meshes/1.0/LFinger32.stl" scale="0.1 0.1 0.1"/>
      </geometry>
      <origin rpy="0 0 0" xyz="0 0 0"/>
    </visual>
    <collision>
      <geometry>
        <mesh filename="package://pepper_meshes/meshes/1.0/LFinger32_0.10.stl" scale="0.1 0.1 0.1"/>
      </geometry>
      <origin rpy="0 0 0" xyz="0 0 0"/>
    </collision>
  </link>
  <joint name="LFinger32" type="continuous">
    <parent link="LFinger31_link"/>
    <child link="LFinger32_link"/>
    <origin rpy="0 0 -1.0472" xyz="0.018 0 0"/>
    <axis xyz="0 0 1.0"/>
    <mimic joint="LHand" multiplier="0.872665" offset="0"/>
  </joint>
  <link name="LFinger11_link">
    <inertial>
      <mass value="2e-06"/>
      <inertia ixx="1.1e-09" ixy="0" ixz="0" iyy="1.1e-09" iyz="0" izz="1.1e-09"/>
    </inertial>
    <visual>
      <geometry>
        <mesh filename="package://pepper_meshes/meshes/1.0/LFinger11.stl" scale="0.1 0.1 0.1"/>
      </geometry>
      <origin rpy="0 0 0" xyz="0 0 0"/>
    </visual>
    <collision>
      <geometry>
        <mesh filename="package://pepper_meshes/meshes/1.0/LFinger11_0.10.stl" scale="0.1 0.1 0.1"/>
      </geometry>
      <origin rpy="0 0 0" xyz="0 0 0"/>
    </collision>
  </link>
  <joint name="LFinger11" type="continuous">
    <parent link="l_wrist"/>
    <child link="LFinger11_link"/>
    <origin rpy="1.74402 1.04064 -0.0334335" xyz="0.0821 -0.0268 0.004"/>
    <axis xyz="0 0 1.0"/>
    <mimic joint="LHand" multiplier="0.872665" offset="0"/>
  </joint>
  <link name="RFinger22_link">
    <inertial>
      <mass value="2e-06"/>
      <inertia ixx="1.1e-09" ixy="0" ixz="0" iyy="1.1e-09" iyz="0" izz="1.1e-09"/>
    </inertial>
    <visual>
      <geometry>
        <mesh filename="package://pepper_meshes/meshes/1.0/RFinger22.stl" scale="0.1 0.1 0.1"/>
      </geometry>
      <origin rpy="0 0 0" xyz="0 0 0"/>
    </visual>
    <collision>
      <geometry>
        <mesh filename="package://pepper_meshes/meshes/1.0/RFinger22_0.10.stl" scale="0.1 0.1 0.1"/>
      </geometry>
      <origin rpy="0 0 0" xyz="0 0 0"/>
    </collision>
  </link>
  <joint name="RFinger22" type="continuous">
    <parent link="RFinger21_link"/>
    <child link="RFinger22_link"/>
    <origin rpy="0 0 -1.0472" xyz="0.018 0 0"/>
    <axis xyz="0 0 1.0"/>
    <mimic joint="RHand" multiplier="0.872665" offset="0"/>
  </joint>
  <link name="RFinger13_link">
    <inertial>
      <mass value="2e-06"/>
      <inertia ixx="1.1e-09" ixy="0" ixz="0" iyy="1.1e-09" iyz="0" izz="1.1e-09"/>
    </inertial>
    <visual>
      <geometry>
        <mesh filename="package://pepper_meshes/meshes/1.0/RFinger13.stl" scale="0.1 0.1 0.1"/>
      </geometry>
      <origin rpy="0 0 0" xyz="0 0 0"/>
    </visual>
    <collision>
      <geometry>
        <mesh filename="package://pepper_meshes/meshes/1.0/RFinger13_0.10.stl" scale="0.1 0.1 0.1"/>
      </geometry>
      <origin rpy="0 0 0" xyz="0 0 0"/>
    </collision>
  </link>
  <joint name="RFinger13" type="continuous">
    <parent link="RFinger12_link"/>
    <child link="RFinger13_link"/>
    <origin rpy="0 0 -1.0472" xyz="0.018 0 0"/>
    <axis xyz="0 0 1.0"/>
    <mimic joint="RHand" multiplier="0.872665" offset="0"/>
  </joint>
  <link name="LFinger22_link">
    <inertial>
      <mass value="2e-06"/>
      <inertia ixx="1.1e-09" ixy="0" ixz="0" iyy="1.1e-09" iyz="0" izz="1.1e-09"/>
    </inertial>
    <visual>
      <geometry>
        <mesh filename="package://pepper_meshes/meshes/1.0/LFinger22.stl" scale="0.1 0.1 0.1"/>
      </geometry>
      <origin rpy="0 0 0" xyz="0 0 0"/>
    </visual>
    <collision>
      <geometry>
        <mesh filename="package://pepper_meshes/meshes/1.0/LFinger22_0.10.stl" scale="0.1 0.1 0.1"/>
      </geometry>
      <origin rpy="0 0 0" xyz="0 0 0"/>
    </collision>
  </link>
  <joint name="LFinger22" type="continuous">
    <parent link="LFinger21_link"/>
    <child link="LFinger22_link"/>
    <origin rpy="0 0 -1.0472" xyz="0.018 0 0"/>
    <axis xyz="0 0 1.0"/>
    <mimic joint="LHand" multiplier="0.872665" offset="0"/>
  </joint>
  <link name="RFinger21_link">
    <inertial>
      <mass value="2e-06"/>
      <inertia ixx="1.1e-09" ixy="0" ixz="0" iyy="1.1e-09" iyz="0" izz="1.1e-09"/>
    </inertial>
    <visual>
      <geometry>
        <mesh filename="package://pepper_meshes/meshes/1.0/RFinger21.stl" scale="0.1 0.1 0.1"/>
      </geometry>
      <origin rpy="0 0 0" xyz="0 0 0"/>
    </visual>
    <collision>
      <geometry>
        <mesh filename="package://pepper_meshes/meshes/1.0/RFinger21_0.10.stl" scale="0.1 0.1 0.1"/>
      </geometry>
      <origin rpy="0 0 0" xyz="0 0 0"/>
    </collision>
  </link>
  <joint name="RFinger21" type="continuous">
    <parent link="r_wrist"/>
    <child link="RFinger21_link"/>
    <origin rpy="1.5708 1.0472 0.061086" xyz="0.0873 0.0073 0.006"/>
    <axis xyz="0 0 1.0"/>
    <mimic joint="RHand" multiplier="0.872665" offset="0"/>
  </joint>
  <link name="LFinger41_link">
    <inertial>
      <mass value="2e-06"/>
      <inertia ixx="1.1e-09" ixy="0" ixz="0" iyy="1.1e-09" iyz="0" izz="1.1e-09"/>
    </inertial>
    <visual>
      <geometry>
        <mesh filename="package://pepper_meshes/meshes/1.0/LFinger41.stl" scale="0.1 0.1 0.1"/>
      </geometry>
      <origin rpy="0 0 0" xyz="0 0 0"/>
    </visual>
    <collision>
      <geometry>
        <mesh filename="package://pepper_meshes/meshes/1.0/LFinger41_0.10.stl" scale="0.1 0.1 0.1"/>
      </geometry>
      <origin rpy="0 0 0" xyz="0 0 0"/>
    </collision>
  </link>
  <joint name="LFinger41" type="continuous">
    <parent link="l_wrist"/>
    <child link="LFinger41_link"/>
    <origin rpy="1.39757 1.04064 0.0683394" xyz="0.074 0.0309 0"/>
    <axis xyz="0 0 1.0"/>
    <mimic joint="LHand" multiplier="0.872665" offset="0"/>
  </joint>
  <link name="LFinger12_link">
    <inertial>
      <mass value="2e-06"/>
      <inertia ixx="1.1e-09" ixy="0" ixz="0" iyy="1.1e-09" iyz="0" izz="1.1e-09"/>
    </inertial>
    <visual>
      <geometry>
        <mesh filename="package://pepper_meshes/meshes/1.0/LFinger12.stl" scale="0.1 0.1 0.1"/>
      </geometry>
      <origin rpy="0 0 0" xyz="0 0 0"/>
    </visual>
    <collision>
      <geometry>
        <mesh filename="package://pepper_meshes/meshes/1.0/LFinger12_0.10.stl" scale="0.1 0.1 0.1"/>
      </geometry>
      <origin rpy="0 0 0" xyz="0 0 0"/>
    </collision>
  </link>
  <joint name="LFinger12" type="continuous">
    <parent link="LFinger11_link"/>
    <child link="LFinger12_link"/>
    <origin rpy="0 0 -1.0472" xyz="0.018 0 0"/>
    <axis xyz="0 0 1.0"/>
    <mimic joint="LHand" multiplier="0.872665" offset="0"/>
  </joint>
  <link name="RFinger23_link">
    <inertial>
      <mass value="2e-06"/>
      <inertia ixx="1.1e-09" ixy="0" ixz="0" iyy="1.1e-09" iyz="0" izz="1.1e-09"/>
    </inertial>
    <visual>
      <geometry>
        <mesh filename="package://pepper_meshes/meshes/1.0/RFinger23.stl" scale="0.1 0.1 0.1"/>
      </geometry>
      <origin rpy="0 0 0" xyz="0 0 0"/>
    </visual>
    <collision>
      <geometry>
        <mesh filename="package://pepper_meshes/meshes/1.0/RFinger23_0.10.stl" scale="0.1 0.1 0.1"/>
      </geometry>
      <origin rpy="0 0 0" xyz="0 0 0"/>
    </collision>
  </link>
  <joint name="RFinger23" type="continuous">
    <parent link="RFinger22_link"/>
    <child link="RFinger23_link"/>
    <origin rpy="0 0 -1.0472" xyz="0.018 0 0"/>
    <axis xyz="0 0 1.0"/>
    <mimic joint="RHand" multiplier="0.872665" offset="0"/>
  </joint>
  <link name="RFinger11_link">
    <inertial>
      <mass value="2e-06"/>
      <inertia ixx="1.1e-09" ixy="0" ixz="0" iyy="1.1e-09" iyz="0" izz="1.1e-09"/>
    </inertial>
    <visual>
      <geometry>
        <mesh filename="package://pepper_meshes/meshes/1.0/RFinger11.stl" scale="0.1 0.1 0.1"/>
      </geometry>
      <origin rpy="0 0 0" xyz="0 0 0"/>
    </visual>
    <collision>
      <geometry>
        <mesh filename="package://pepper_meshes/meshes/1.0/RFinger11_0.10.stl" scale="0.1 0.1 0.1"/>
      </geometry>
      <origin rpy="0 0 0" xyz="0 0 0"/>
    </collision>
  </link>
  <joint name="RFinger11" type="continuous">
    <parent link="r_wrist"/>
    <child link="RFinger11_link"/>
    <origin rpy="1.39757 1.04064 0.0334335" xyz="0.0821 0.0268 0.004"/>
    <axis xyz="0 0 1.0"/>
    <mimic joint="RHand" multiplier="0.872665" offset="0"/>
  </joint>
  <link name="LFinger23_link">
    <inertial>
      <mass value="2e-06"/>
      <inertia ixx="1.1e-09" ixy="0" ixz="0" iyy="1.1e-09" iyz="0" izz="1.1e-09"/>
    </inertial>
    <visual>
      <geometry>
        <mesh filename="package://pepper_meshes/meshes/1.0/LFinger23.stl" scale="0.1 0.1 0.1"/>
      </geometry>
      <origin rpy="0 0 0" xyz="0 0 0"/>
    </visual>
    <collision>
      <geometry>
        <mesh filename="package://pepper_meshes/meshes/1.0/LFinger23_0.10.stl" scale="0.1 0.1 0.1"/>
      </geometry>
      <origin rpy="0 0 0" xyz="0 0 0"/>
    </collision>
  </link>
  <joint name="LFinger23" type="continuous">
    <parent link="LFinger22_link"/>
    <child link="LFinger23_link"/>
    <origin rpy="0 0 -1.0472" xyz="0.018 0 0"/>
    <axis xyz="0 0 1.0"/>
    <mimic joint="LHand" multiplier="0.872665" offset="0"/>
  </joint>
  <link name="LFinger43_link">
    <inertial>
      <mass value="2e-06"/>
      <inertia ixx="1.1e-09" ixy="0" ixz="0" iyy="1.1e-09" iyz="0" izz="1.1e-09"/>
    </inertial>
    <visual>
      <geometry>
        <mesh filename="package://pepper_meshes/meshes/1.0/LFinger43.stl" scale="0.1 0.1 0.1"/>
      </geometry>
      <origin rpy="0 0 0" xyz="0 0 0"/>
    </visual>
    <collision>
      <geometry>
        <mesh filename="package://pepper_meshes/meshes/1.0/LFinger43_0.10.stl" scale="0.1 0.1 0.1"/>
      </geometry>
      <origin rpy="0 0 0" xyz="0 0 0"/>
    </collision>
  </link>
  <joint name="LFinger43" type="continuous">
    <parent link="LFinger42_link"/>
    <child link="LFinger43_link"/>
    <origin rpy="0 0 -1.0472" xyz="0.018 0 0"/>
    <axis xyz="0 0 1.0"/>
    <mimic joint="LHand" multiplier="0.872665" offset="0"/>
  </joint>
  <link name="RFinger43_link">
    <inertial>
      <mass value="2e-06"/>
      <inertia ixx="1.1e-09" ixy="0" ixz="0" iyy="1.1e-09" iyz="0" izz="1.1e-09"/>
    </inertial>
    <visual>
      <geometry>
        <mesh filename="package://pepper_meshes/meshes/1.0/RFinger43.stl" scale="0.1 0.1 0.1"/>
      </geometry>
      <origin rpy="0 0 0" xyz="0 0 0"/>
    </visual>
    <collision>
      <geometry>
        <mesh filename="package://pepper_meshes/meshes/1.0/RFinger43_0.10.stl" scale="0.1 0.1 0.1"/>
      </geometry>
      <origin rpy="0 0 0" xyz="0 0 0"/>
    </collision>
  </link>
  <joint name="RFinger43" type="continuous">
    <parent link="RFinger42_link"/>
    <child link="RFinger43_link"/>
    <origin rpy="0 0 -1.0472" xyz="0.018 0 0"/>
    <axis xyz="0 0 1.0"/>
    <mimic joint="RHand" multiplier="0.872665" offset="0"/>
  </joint>
  <link name="RFinger42_link">
    <inertial>
      <mass value="2e-06"/>
      <inertia ixx="1.1e-09" ixy="0" ixz="0" iyy="1.1e-09" iyz="0" izz="1.1e-09"/>
    </inertial>
    <visual>
      <geometry>
        <mesh filename="package://pepper_meshes/meshes/1.0/RFinger42.stl" scale="0.1 0.1 0.1"/>
      </geometry>
      <origin rpy="0 0 0" xyz="0 0 0"/>
    </visual>
    <collision>
      <geometry>
        <mesh filename="package://pepper_meshes/meshes/1.0/RFinger42_0.10.stl" scale="0.1 0.1 0.1"/>
      </geometry>
      <origin rpy="0 0 0" xyz="0 0 0"/>
    </collision>
  </link>
  <joint name="RFinger42" type="continuous">
    <parent link="RFinger41_link"/>
    <child link="RFinger42_link"/>
    <origin rpy="0 0 -1.0472" xyz="0.018 0 0"/>
    <axis xyz="0 0 1.0"/>
    <mimic joint="RHand" multiplier="0.872665" offset="0"/>
  </joint>
  <link name="LFinger31_link">
    <inertial>
      <mass value="2e-06"/>
      <inertia ixx="1.1e-09" ixy="0" ixz="0" iyy="1.1e-09" iyz="0" izz="1.1e-09"/>
    </inertial>
    <visual>
      <geometry>
        <mesh filename="package://pepper_meshes/meshes/1.0/LFinger31.stl" scale="0.1 0.1 0.1"/>
      </geometry>
      <origin rpy="0 0 0" xyz="0 0 0"/>
    </visual>
    <collision>
      <geometry>
        <mesh filename="package://pepper_meshes/meshes/1.0/LFinger31_0.10.stl" scale="0.1 0.1 0.1"/>
      </geometry>
      <origin rpy="0 0 0" xyz="0 0 0"/>
    </collision>
  </link>
  <joint name="LFinger31" type="continuous">
    <parent link="l_wrist"/>
    <child link="LFinger31_link"/>
    <origin rpy="1.46636 1.04483 -0.029314" xyz="0.0833 0.0123 0.004"/>
    <axis xyz="0 0 1.0"/>
    <mimic joint="LHand" multiplier="0.872665" offset="0"/>
  </joint>
  <link name="RFinger33_link">
    <inertial>
      <mass value="2e-06"/>
      <inertia ixx="1.1e-09" ixy="0" ixz="0" iyy="1.1e-09" iyz="0" izz="1.1e-09"/>
    </inertial>
    <visual>
      <geometry>
        <mesh filename="package://pepper_meshes/meshes/1.0/RFinger33.stl" scale="0.1 0.1 0.1"/>
      </geometry>
      <origin rpy="0 0 0" xyz="0 0 0"/>
    </visual>
    <collision>
      <geometry>
        <mesh filename="package://pepper_meshes/meshes/1.0/RFinger33_0.10.stl" scale="0.1 0.1 0.1"/>
      </geometry>
      <origin rpy="0 0 0" xyz="0 0 0"/>
    </collision>
  </link>
  <joint name="RFinger33" type="continuous">
    <parent link="RFinger32_link"/>
    <child link="RFinger33_link"/>
    <origin rpy="0 0 -1.0472" xyz="0.018 0 0"/>
    <axis xyz="0 0 1.0"/>
    <mimic joint="RHand" multiplier="0.872665" offset="0"/>
  </joint>
  <link name="LThumb1_link">
    <inertial>
      <mass value="2e-06"/>
      <inertia ixx="1.1e-09" ixy="0" ixz="0" iyy="1.1e-09" iyz="0" izz="1.1e-09"/>
    </inertial>
    <visual>
      <geometry>
        <mesh filename="package://pepper_meshes/meshes/1.0/LThumb1.stl" scale="0.1 0.1 0.1"/>
      </geometry>
      <origin rpy="0 0 0" xyz="0 0 0"/>
    </visual>
    <collision>
      <geometry>
        <mesh filename="package://pepper_meshes/meshes/1.0/LThumb1_0.10.stl" scale="0.1 0.1 0.1"/>
      </geometry>
      <origin rpy="0 0 0" xyz="0 0 0"/>
    </collision>
  </link>
  <joint name="LThumb1" type="continuous">
    <parent link="l_wrist"/>
    <child link="LThumb1_link"/>
    <origin rpy="-1.95836 0.60626 0.533978" xyz="0.0482 -0.0357 -0.0199"/>
    <axis xyz="0 0 1.0"/>
    <mimic joint="LHand" multiplier="0.872665" offset="0"/>
  </joint>
  <link name="RThumb2_link">
    <inertial>
      <mass value="2e-06"/>
      <inertia ixx="1.1e-09" ixy="0" ixz="0" iyy="1.1e-09" iyz="0" izz="1.1e-09"/>
    </inertial>
    <visual>
      <geometry>
        <mesh filename="package://pepper_meshes/meshes/1.0/RThumb2.stl" scale="0.1 0.1 0.1"/>
      </geometry>
      <origin rpy="0 0 0" xyz="0 0 0"/>
    </visual>
    <collision>
      <geometry>
        <mesh filename="package://pepper_meshes/meshes/1.0/RThumb2_0.10.stl" scale="0.1 0.1 0.1"/>
      </geometry>
      <origin rpy="0 0 0" xyz="0 0 0"/>
    </collision>
  </link>
  <joint name="RThumb2" type="continuous">
    <parent link="RThumb1_link"/>
    <child link="RThumb2_link"/>
    <origin rpy="0 0 -1.0472" xyz="0.022 0 0"/>
    <axis xyz="0 0 1.0"/>
    <mimic joint="RHand" multiplier="0.872665" offset="0"/>
  </joint>
  <link name="RThumb1_link">
    <inertial>
      <mass value="2e-06"/>
      <inertia ixx="1.1e-09" ixy="0" ixz="0" iyy="1.1e-09" iyz="0" izz="1.1e-09"/>
    </inertial>
    <visual>
      <geometry>
        <mesh filename="package://pepper_meshes/meshes/1.0/RThumb1.stl" scale="0.1 0.1 0.1"/>
      </geometry>
      <origin rpy="0 0 0" xyz="0 0 0"/>
    </visual>
    <collision>
      <geometry>
        <mesh filename="package://pepper_meshes/meshes/1.0/RThumb1_0.10.stl" scale="0.1 0.1 0.1"/>
      </geometry>
      <origin rpy="0 0 0" xyz="0 0 0"/>
    </collision>
  </link>
  <joint name="RThumb1" type="continuous">
    <parent link="r_wrist"/>
    <child link="RThumb1_link"/>
    <origin rpy="-1.18323 0.60626 -0.533978" xyz="0.0482 0.0357 -0.0199"/>
    <axis xyz="0 0 1.0"/>
    <mimic joint="RHand" multiplier="0.872665" offset="0"/>
  </joint>
  <link name="LThumb2_link">
    <inertial>
      <mass value="2e-06"/>
      <inertia ixx="1.1e-09" ixy="0" ixz="0" iyy="1.1e-09" iyz="0" izz="1.1e-09"/>
    </inertial>
    <visual>
      <geometry>
        <mesh filename="package://pepper_meshes/meshes/1.0/LThumb2.stl" scale="0.1 0.1 0.1"/>
      </geometry>
      <origin rpy="0 0 0" xyz="0 0 0"/>
    </visual>
    <collision>
      <geometry>
        <mesh filename="package://pepper_meshes/meshes/1.0/LThumb2_0.10.stl" scale="0.1 0.1 0.1"/>
      </geometry>
      <origin rpy="0 0 0" xyz="0 0 0"/>
    </collision>
  </link>
  <joint name="LThumb2" type="continuous">
    <parent link="LThumb1_link"/>
    <child link="LThumb2_link"/>
    <origin rpy="0 0 -1.0472" xyz="0.022 0 0"/>
    <axis xyz="0 0 1.0"/>
    <mimic joint="LHand" multiplier="0.872665" offset="0"/>
  </joint>
  <link name="WheelFL_link">
    <inertial>
      <mass value="1.58028"/>
      <inertia ixx="0.00299756" ixy="6.3068e-07" ixz="5.56903e-06" iyy="0.00303229" iyz="-9.0408e-07" izz="0.00296585"/>
      <origin rpy="0 0 0" xyz="0 0 0"/>
    </inertial>
    <visual>
      <geometry>
        <mesh filename="package://pepper_meshes/meshes/1.0/WheelFL.stl" scale="0.1 0.1 0.1"/>
      </geometry>
      <origin rpy="0 0 0" xyz="0 0 0"/>
    </visual>
    <collision>
      <geometry>
        <mesh filename="package://pepper_meshes/meshes/1.0/WheelFL_0.10.stl" scale="0.1 0.1 0.1"/>
      </geometry>
      <origin rpy="0 0 0" xyz="0 0 0"/>
    </collision>
  </link>
  <joint name="WheelFL" type="continuous">
    <parent link="Tibia"/>
    <child link="WheelFL_link"/>
    <origin rpy="0 0 1.07517" xyz="0.09 0.155 -0.264"/>
    <axis xyz="1.0 0 0"/>
    <limit effort="3.25" lower="0" upper="0" velocity="6.28319"/>
  </joint>
  <link name="WheelB_link">
    <inertial>
      <mass value="1.58028"/>
      <inertia ixx="0.00299756" ixy="6.3068e-07" ixz="5.56903e-06" iyy="0.00303229" iyz="-9.0408e-07" izz="0.00296585"/>
      <origin rpy="0 0 0" xyz="0 0 0"/>
    </inertial>
    <visual>
      <geometry>
        <mesh filename="package://pepper_meshes/meshes/1.0/WheelB.stl" scale="0.1 0.1 0.1"/>
      </geometry>
      <origin rpy="0 0 0" xyz="0 0 0"/>
    </visual>
    <collision>
      <geometry>
        <mesh filename="package://pepper_meshes/meshes/1.0/WheelB_0.10.stl" scale="0.1 0.1 0.1"/>
      </geometry>
      <origin rpy="0 0 0" xyz="0 0 0"/>
    </collision>
  </link>
  <joint name="WheelB" type="continuous">
    <parent link="Tibia"/>
    <child link="WheelB_link"/>
    <origin rpy="0 0 -3.14159" xyz="-0.17 0 -0.264"/>
    <axis xyz="1.0 0 0"/>
    <limit effort="3.25" lower="0" upper="0" velocity="6.28319"/>
  </joint>
  <link name="WheelFR_link">
    <inertial>
      <mass value="1.58028"/>
      <inertia ixx="0.00299756" ixy="6.3068e-07" ixz="5.56903e-06" iyy="0.00303229" iyz="-9.0408e-07" izz="0.00296585"/>
      <origin rpy="0 0 0" xyz="0 0 0"/>
    </inertial>
    <visual>
      <geometry>
        <mesh filename="package://pepper_meshes/meshes/1.0/WheelFR.stl" scale="0.1 0.1 0.1"/>
      </geometry>
      <origin rpy="0 0 0" xyz="0 0 0"/>
    </visual>
    <collision>
      <geometry>
        <mesh filename="package://pepper_meshes/meshes/1.0/WheelFR_0.10.stl" scale="0.1 0.1 0.1"/>
      </geometry>
      <origin rpy="0 0 0" xyz="0 0 0"/>
    </collision>
  </link>
  <joint name="WheelFR" type="continuous">
    <parent link="Tibia"/>
    <child link="WheelFR_link"/>
    <origin rpy="0 0 -1.07517" xyz="0.09 -0.155 -0.264"/>
    <axis xyz="1.0 0 0"/>
    <limit effort="3.25" lower="0" upper="0" velocity="6.28319"/>
  </joint>
  <!-- GAZEBO ROS CONTROL -->
  <gazebo>
    <plugin filename="libgazebo_ros_control.so" name="gazebo_ros_control">
      <robotNamespace/>
      <robotSimType>gazebo_ros_control/DefaultRobotHWSim</robotSimType>
    </plugin>
    <plugin filename="libroboticsgroup_gazebo_mimic_joint_plugin.so" name="mimic_LFinger11">
      <joint>LHand</joint>
      <mimicJoint>LFinger11</mimicJoint>
      <multiplier>-0.785398163398</multiplier>
      <offset>0.785398163398</offset>
    </plugin>
    <plugin filename="libroboticsgroup_gazebo_mimic_joint_plugin.so" name="mimic_LFinger12">
      <joint>LHand</joint>
      <mimicJoint>LFinger12</mimicJoint>
      <multiplier>-0.785398163398</multiplier>
      <offset>0.785398163398</offset>
    </plugin>
    <plugin filename="libroboticsgroup_gazebo_mimic_joint_plugin.so" name="mimic_LFinger13">
      <joint>LHand</joint>
      <mimicJoint>LFinger13</mimicJoint>
      <multiplier>-0.785398163398</multiplier>
      <offset>0.785398163398</offset>
    </plugin>
    <plugin filename="libroboticsgroup_gazebo_mimic_joint_plugin.so" name="mimic_LFinger21">
      <joint>LHand</joint>
      <mimicJoint>LFinger21</mimicJoint>
      <multiplier>-0.785398163398</multiplier>
      <offset>0.785398163398</offset>
    </plugin>
    <plugin filename="libroboticsgroup_gazebo_mimic_joint_plugin.so" name="mimic_LFinger22">
      <joint>LHand</joint>
      <mimicJoint>LFinger22</mimicJoint>
      <multiplier>-0.785398163398</multiplier>
      <offset>0.785398163398</offset>
    </plugin>
    <plugin filename="libroboticsgroup_gazebo_mimic_joint_plugin.so" name="mimic_LFinger23">
      <joint>LHand</joint>
      <mimicJoint>LFinger23</mimicJoint>
      <multiplier>-0.785398163398</multiplier>
      <offset>0.785398163398</offset>
    </plugin>
    <plugin filename="libroboticsgroup_gazebo_mimic_joint_plugin.so" name="mimic_LFinger31">
      <joint>LHand</joint>
      <mimicJoint>LFinger31</mimicJoint>
      <multiplier>-0.785398163398</multiplier>
      <offset>0.785398163398</offset>
    </plugin>
    <plugin filename="libroboticsgroup_gazebo_mimic_joint_plugin.so" name="mimic_LFinger32">
      <joint>LHand</joint>
      <mimicJoint>LFinger32</mimicJoint>
      <multiplier>-0.785398163398</multiplier>
      <offset>0.785398163398</offset>
    </plugin>
    <plugin filename="libroboticsgroup_gazebo_mimic_joint_plugin.so" name="mimic_LFinger33">
      <joint>LHand</joint>
      <mimicJoint>LFinger33</mimicJoint>
      <multiplier>-0.785398163398</multiplier>
      <offset>0.785398163398</offset>
    </plugin>
    <plugin filename="libroboticsgroup_gazebo_mimic_joint_plugin.so" name="mimic_LFinger41">
      <joint>LHand</joint>
      <mimicJoint>LFinger41</mimicJoint>
      <multiplier>-0.785398163398</multiplier>
      <offset>0.785398163398</offset>
    </plugin>
    <plugin filename="libroboticsgroup_gazebo_mimic_joint_plugin.so" name="mimic_LFinger42">
      <joint>LHand</joint>
      <mimicJoint>LFinger42</mimicJoint>
      <multiplier>-0.785398163398</multiplier>
      <offset>0.785398163398</offset>
    </plugin>
    <plugin filename="libroboticsgroup_gazebo_mimic_joint_plugin.so" name="mimic_LFinger43">
      <joint>LHand</joint>
      <mimicJoint>LFinger43</mimicJoint>
      <multiplier>-0.785398163398</multiplier>
      <offset>0.785398163398</offset>
    </plugin>
    <plugin filename="libroboticsgroup_gazebo_mimic_joint_plugin.so" name="mimic_RFinger11">
      <joint>RHand</joint>
      <mimicJoint>RFinger11</mimicJoint>
      <multiplier>-0.785398163398</multiplier>
      <offset>0.785398163398</offset>
    </plugin>
    <plugin filename="libroboticsgroup_gazebo_mimic_joint_plugin.so" name="mimic_RFinger12">
      <joint>RHand</joint>
      <mimicJoint>RFinger12</mimicJoint>
      <multiplier>-0.785398163398</multiplier>
      <offset>0.785398163398</offset>
    </plugin>
    <plugin filename="libroboticsgroup_gazebo_mimic_joint_plugin.so" name="mimic_RFinger13">
      <joint>RHand</joint>
      <mimicJoint>RFinger13</mimicJoint>
      <multiplier>-0.785398163398</multiplier>
      <offset>0.785398163398</offset>
    </plugin>
    <plugin filename="libroboticsgroup_gazebo_mimic_joint_plugin.so" name="mimic_RFinger21">
      <joint>RHand</joint>
      <mimicJoint>RFinger21</mimicJoint>
      <multiplier>-0.785398163398</multiplier>
      <offset>0.785398163398</offset>
    </plugin>
    <plugin filename="libroboticsgroup_gazebo_mimic_joint_plugin.so" name="mimic_RFinger22">
      <joint>RHand</joint>
      <mimicJoint>RFinger22</mimicJoint>
      <multiplier>-0.785398163398</multiplier>
      <offset>0.785398163398</offset>
    </plugin>
    <plugin filename="libroboticsgroup_gazebo_mimic_joint_plugin.so" name="mimic_RFinger23">
      <joint>RHand</joint>
      <mimicJoint>RFinger23</mimicJoint>
      <multiplier>-0.785398163398</multiplier>
      <offset>0.785398163398</offset>
    </plugin>
    <plugin filename="libroboticsgroup_gazebo_mimic_joint_plugin.so" name="mimic_RFinger31">
      <joint>RHand</joint>
      <mimicJoint>RFinger31</mimicJoint>
      <multiplier>-0.785398163398</multiplier>
      <offset>0.785398163398</offset>
    </plugin>
    <plugin filename="libroboticsgroup_gazebo_mimic_joint_plugin.so" name="mimic_RFinger32">
      <joint>RHand</joint>
      <mimicJoint>RFinger32</mimicJoint>
      <multiplier>-0.785398163398</multiplier>
      <offset>0.785398163398</offset>
    </plugin>
    <plugin filename="libroboticsgroup_gazebo_mimic_joint_plugin.so" name="mimic_RFinger33">
      <joint>RHand</joint>
      <mimicJoint>RFinger33</mimicJoint>
      <multiplier>-0.785398163398</multiplier>
      <offset>0.785398163398</offset>
    </plugin>
    <plugin filename="libroboticsgroup_gazebo_mimic_joint_plugin.so" name="mimic_RFinger41">
      <joint>RHand</joint>
      <mimicJoint>RFinger41</mimicJoint>
      <multiplier>-0.785398163398</multiplier>
      <offset>0.785398163398</offset>
    </plugin>
    <plugin filename="libroboticsgroup_gazebo_mimic_joint_plugin.so" name="mimic_RFinger42">
      <joint>RHand</joint>
      <mimicJoint>RFinger42</mimicJoint>
      <multiplier>-0.785398163398</multiplier>
      <offset>0.785398163398</offset>
    </plugin>
    <plugin filename="libroboticsgroup_gazebo_mimic_joint_plugin.so" name="mimic_RFinger43">
      <joint>RHand</joint>
      <mimicJoint>RFinger43</mimicJoint>
      <multiplier>-0.785398163398</multiplier>
      <offset>0.785398163398</offset>
    </plugin>
    <plugin filename="libroboticsgroup_gazebo_mimic_joint_plugin.so" name="LThumb1">
      <joint>LHand</joint>
      <mimicJoint>LThumb1</mimicJoint>
      <multiplier>-0.785398163398</multiplier>
      <offset>0.785398163398</offset>
    </plugin>
    <plugin filename="libroboticsgroup_gazebo_mimic_joint_plugin.so" name="LThumb2">
      <joint>LHand</joint>
      <mimicJoint>LThumb2</mimicJoint>
      <multiplier>-0.785398163398</multiplier>
      <offset>0.785398163398</offset>
    </plugin>
    <plugin filename="libroboticsgroup_gazebo_mimic_joint_plugin.so" name="RThumb1">
      <joint>RHand</joint>
      <mimicJoint>RThumb1</mimicJoint>
      <multiplier>-0.785398163398</multiplier>
      <offset>0.785398163398</offset>
    </plugin>
    <plugin filename="libroboticsgroup_gazebo_mimic_joint_plugin.so" name="RThumb2">
      <joint>RHand</joint>
      <mimicJoint>RThumb2</mimicJoint>
      <multiplier>-0.785398163398</multiplier>
      <offset>0.785398163398</offset>
    </plugin>
    <plugin filename="libroboticsgroup_gazebo_disable_link_plugin.so" name="LFinger11_link">
      <link>LFinger11_link</link>
    </plugin>
    <plugin filename="libroboticsgroup_gazebo_disable_link_plugin.so" name="LFinger12_link">
      <link>LFinger12_link</link>
    </plugin>
    <plugin filename="libroboticsgroup_gazebo_disable_link_plugin.so" name="LFinger13_link">
      <link>LFinger13_link</link>
    </plugin>
    <plugin filename="libroboticsgroup_gazebo_disable_link_plugin.so" name="LFinger21_link">
      <link>LFinger21_link</link>
    </plugin>
    <plugin filename="libroboticsgroup_gazebo_disable_link_plugin.so" name="LFinger22_link">
      <link>LFinger22_link</link>
    </plugin>
    <plugin filename="libroboticsgroup_gazebo_disable_link_plugin.so" name="LFinger23_link">
      <link>LFinger23_link</link>
    </plugin>
    <plugin filename="libroboticsgroup_gazebo_disable_link_plugin.so" name="LFinger31_link">
      <link>LFinger31_link</link>
    </plugin>
    <plugin filename="libroboticsgroup_gazebo_disable_link_plugin.so" name="LFinger32_link">
      <link>LFinger32_link</link>
    </plugin>
    <plugin filename="libroboticsgroup_gazebo_disable_link_plugin.so" name="LFinger33_link">
      <link>LFinger33_link</link>
    </plugin>
    <plugin filename="libroboticsgroup_gazebo_disable_link_plugin.so" name="LFinger41_link">
      <link>LFinger41_link</link>
    </plugin>
    <plugin filename="libroboticsgroup_gazebo_disable_link_plugin.so" name="LFinger42_link">
      <link>LFinger42_link</link>
    </plugin>
    <plugin filename="libroboticsgroup_gazebo_disable_link_plugin.so" name="LFinger43_link">
      <link>LFinger43_link</link>
    </plugin>
    <plugin filename="libroboticsgroup_gazebo_disable_link_plugin.so" name="LThumb1_link">
      <link>LThumb1_link</link>
    </plugin>
    <plugin filename="libroboticsgroup_gazebo_disable_link_plugin.so" name="LThumb2_link">
      <link>LThumb2_link</link>
    </plugin>
    <plugin filename="libroboticsgroup_gazebo_disable_link_plugin.so" name="l_gripper">
      <link>l_gripper</link>
    </plugin>
    <plugin filename="libroboticsgroup_gazebo_disable_link_plugin.so" name="l_grasp_link">
      <link>l_grasp_link</link>
    </plugin>
    <plugin filename="libroboticsgroup_gazebo_disable_link_plugin.so" name="RFinger11_link">
      <link>RFinger11_link</link>
    </plugin>
    <plugin filename="libroboticsgroup_gazebo_disable_link_plugin.so" name="RFinger12_link">
      <link>RFinger12_link</link>
    </plugin>
    <plugin filename="libroboticsgroup_gazebo_disable_link_plugin.so" name="RFinger13_link">
      <link>RFinger13_link</link>
    </plugin>
    <plugin filename="libroboticsgroup_gazebo_disable_link_plugin.so" name="RFinger21_link">
      <link>RFinger21_link</link>
    </plugin>
    <plugin filename="libroboticsgroup_gazebo_disable_link_plugin.so" name="RFinger22_link">
      <link>RFinger22_link</link>
    </plugin>
    <plugin filename="libroboticsgroup_gazebo_disable_link_plugin.so" name="RFinger23_link">
      <link>RFinger23_link</link>
    </plugin>
    <plugin filename="libroboticsgroup_gazebo_disable_link_plugin.so" name="RFinger31_link">
      <link>RFinger31_link</link>
    </plugin>
    <plugin filename="libroboticsgroup_gazebo_disable_link_plugin.so" name="RFinger32_link">
      <link>RFinger32_link</link>
    </plugin>
    <plugin filename="libroboticsgroup_gazebo_disable_link_plugin.so" name="RFinger33_link">
      <link>RFinger33_link</link>
    </plugin>
    <plugin filename="libroboticsgroup_gazebo_disable_link_plugin.so" name="RFinger41_link">
      <link>RFinger41_link</link>
    </plugin>
    <plugin filename="libroboticsgroup_gazebo_disable_link_plugin.so" name="RFinger42_link">
      <link>RFinger42_link</link>
    </plugin>
    <plugin filename="libroboticsgroup_gazebo_disable_link_plugin.so" name="RFinger43_link">
      <link>RFinger43_link</link>
    </plugin>
    <plugin filename="libroboticsgroup_gazebo_disable_link_plugin.so" name="RThumb1_link">
      <link>RThumb1_link</link>
    </plugin>
    <plugin filename="libroboticsgroup_gazebo_disable_link_plugin.so" name="RThumb2_link">
      <link>RThumb2_link</link>
    </plugin>
    <plugin filename="libroboticsgroup_gazebo_disable_link_plugin.so" name="r_gripper">
      <link>r_gripper</link>
    </plugin>
    <plugin filename="libroboticsgroup_gazebo_disable_link_plugin.so" name="r_grasp_link">
      <link>r_grasp_link</link>
    </plugin>
  </gazebo>
  <!-- END OF GAZEBO ROS CONTROL PLUGIN -->
  <!-- GAZEBO MATERIALS -->
  <gazebo reference="base_footprint">
    <turnGravityOff>false</turnGravityOff>
  </gazebo>
  <gazebo reference="base_link">
    <turnGravityOff>false</turnGravityOff>
  </gazebo>
  <gazebo reference="torso">
    <mu1>0.5</mu1>
    <mu2>0.5</mu2>
    <selfCollide>false</selfCollide>
    <turnGravityOff>false</turnGravityOff>
  </gazebo>
  <gazebo reference="Neck">
    <mu1>0.5</mu1>
    <mu2>0.5</mu2>
    <selfCollide>false</selfCollide>
    <turnGravityOff>false</turnGravityOff>
  </gazebo>
  <gazebo reference="Head">
    <mu1>0.5</mu1>
    <mu2>0.5</mu2>
    <selfCollide>false</selfCollide>
    <turnGravityOff>false</turnGravityOff>
  </gazebo>
  <gazebo reference="gaze">
    <mu1>0.5</mu1>
    <mu2>0.5</mu2>
    <selfCollide>false</selfCollide>
    <turnGravityOff>false</turnGravityOff>
  </gazebo>
  <!-- ARMS -->
  <gazebo reference="LShoulder">
    <mu1>0.5</mu1>
    <mu2>0.5</mu2>
    <selfCollide>false</selfCollide>
    <turnGravityOff>false</turnGravityOff>
  </gazebo>
  <gazebo reference="LBicep">
    <mu1>0.5</mu1>
    <mu2>0.5</mu2>
    <selfCollide>false</selfCollide>
    <turnGravityOff>false</turnGravityOff>
  </gazebo>
  <gazebo reference="LElbow">
    <mu1>0.5</mu1>
    <mu2>0.5</mu2>
    <selfCollide>false</selfCollide>
    <turnGravityOff>false</turnGravityOff>
  </gazebo>
  <gazebo reference="LForeArm">
    <mu1>0.5</mu1>
    <mu2>0.5</mu2>
    <selfCollide>false</selfCollide>
    <turnGravityOff>false</turnGravityOff>
  </gazebo>
  <gazebo reference="l_wrist">
    <mu1>0.5</mu1>
    <mu2>0.5</mu2>
    <selfCollide>false</selfCollide>
    <turnGravityOff>false</turnGravityOff>
  </gazebo>
  <gazebo reference="l_grasp_link">
    <mu1>0.5</mu1>
    <mu2>0.5</mu2>
    <selfCollide>false</selfCollide>
    <turnGravityOff>false</turnGravityOff>
  </gazebo>
  <gazebo reference="l_gripper">
    <mu1>0.5</mu1>
    <mu2>0.5</mu2>
    <selfCollide>false</selfCollide>
    <turnGravityOff>true</turnGravityOff>
  </gazebo>
  <gazebo reference="RShoulder">
    <mu1>0.5</mu1>
    <mu2>0.5</mu2>
    <selfCollide>false</selfCollide>
    <turnGravityOff>false</turnGravityOff>
  </gazebo>
  <gazebo reference="RBicep">
    <mu1>0.5</mu1>
    <mu2>0.5</mu2>
    <selfCollide>false</selfCollide>
    <turnGravityOff>false</turnGravityOff>
  </gazebo>
  <gazebo reference="RElbow">
    <mu1>0.5</mu1>
    <mu2>0.5</mu2>
    <selfCollide>false</selfCollide>
    <turnGravityOff>false</turnGravityOff>
  </gazebo>
  <gazebo reference="RForeArm">
    <mu1>0.5</mu1>
    <mu2>0.5</mu2>
    <selfCollide>false</selfCollide>
    <turnGravityOff>false</turnGravityOff>
  </gazebo>
  <gazebo reference="r_wrist">
    <mu1>0.5</mu1>
    <mu2>0.5</mu2>
    <selfCollide>false</selfCollide>
    <turnGravityOff>false</turnGravityOff>
  </gazebo>
  <gazebo reference="r_grasp_link">
    <mu1>0.5</mu1>
    <mu2>0.5</mu2>
    <selfCollide>false</selfCollide>
    <turnGravityOff>false</turnGravityOff>
  </gazebo>
  <gazebo reference="r_gripper">
    <mu1>0.5</mu1>
    <mu2>0.5</mu2>
    <selfCollide>false</selfCollide>
    <turnGravityOff>true</turnGravityOff>
  </gazebo>
  <gazebo reference="LFinger11_link">
    <mu1>0.5</mu1>
    <mu2>0.5</mu2>
    <selfCollide>false</selfCollide>
    <turnGravityOff>true</turnGravityOff>
  </gazebo>
  <gazebo reference="LFinger12_link">
    <mu1>0.5</mu1>
    <mu2>0.5</mu2>
    <selfCollide>false</selfCollide>
    <turnGravityOff>true</turnGravityOff>
  </gazebo>
  <gazebo reference="LFinger13_link">
    <mu1>0.5</mu1>
    <mu2>0.5</mu2>
    <selfCollide>false</selfCollide>
    <turnGravityOff>true</turnGravityOff>
  </gazebo>
  <gazebo reference="LFinger21_link">
    <mu1>0.5</mu1>
    <mu2>0.5</mu2>
    <selfCollide>false</selfCollide>
    <turnGravityOff>true</turnGravityOff>
  </gazebo>
  <gazebo reference="LFinger22_link">
    <mu1>0.5</mu1>
    <mu2>0.5</mu2>
    <selfCollide>false</selfCollide>
    <turnGravityOff>true</turnGravityOff>
  </gazebo>
  <gazebo reference="LFinger23_link">
    <mu1>0.5</mu1>
    <mu2>0.5</mu2>
    <selfCollide>false</selfCollide>
    <turnGravityOff>true</turnGravityOff>
  </gazebo>
  <gazebo reference="LFinger31_link">
    <mu1>0.5</mu1>
    <mu2>0.5</mu2>
    <selfCollide>false</selfCollide>
    <turnGravityOff>true</turnGravityOff>
  </gazebo>
  <gazebo reference="LFinger32_link">
    <mu1>0.5</mu1>
    <mu2>0.5</mu2>
    <selfCollide>false</selfCollide>
    <turnGravityOff>true</turnGravityOff>
  </gazebo>
  <gazebo reference="LFinger33_link">
    <mu1>0.5</mu1>
    <mu2>0.5</mu2>
    <selfCollide>false</selfCollide>
    <turnGravityOff>true</turnGravityOff>
  </gazebo>
  <gazebo reference="LFinger41_link">
    <mu1>0.5</mu1>
    <mu2>0.5</mu2>
    <selfCollide>false</selfCollide>
    <turnGravityOff>true</turnGravityOff>
  </gazebo>
  <gazebo reference="LFinger42_link">
    <mu1>0.5</mu1>
    <mu2>0.5</mu2>
    <selfCollide>false</selfCollide>
    <turnGravityOff>true</turnGravityOff>
  </gazebo>
  <gazebo reference="LFinger43_link">
    <mu1>0.5</mu1>
    <mu2>0.5</mu2>
    <selfCollide>false</selfCollide>
    <turnGravityOff>true</turnGravityOff>
  </gazebo>
  <gazebo reference="LThumb1_link">
    <mu1>0.5</mu1>
    <mu2>0.5</mu2>
    <selfCollide>false</selfCollide>
    <turnGravityOff>true</turnGravityOff>
  </gazebo>
  <gazebo reference="LThumb2_link">
    <mu1>0.5</mu1>
    <mu2>0.5</mu2>
    <selfCollide>false</selfCollide>
    <turnGravityOff>true</turnGravityOff>
  </gazebo>
  <gazebo reference="Hip">
    <mu1>0.5</mu1>
    <mu2>0.5</mu2>
    <selfCollide>false</selfCollide>
    <turnGravityOff>false</turnGravityOff>
  </gazebo>
  <gazebo reference="Pelvis">
    <mu1>0.5</mu1>
    <mu2>0.5</mu2>
    <selfCollide>false</selfCollide>
    <turnGravityOff>false</turnGravityOff>
  </gazebo>
  <gazebo reference="Tibia">
    <mu1>0.5</mu1>
    <mu2>0.5</mu2>
    <selfCollide>false</selfCollide>
    <turnGravityOff>false</turnGravityOff>
  </gazebo>
  <gazebo reference="WheelFL_link">
    <mu1>1</mu1>
    <mu2>0</mu2>
    <kp value="10000000.0"/>
    <kd value="1.0"/>
    <fdir1 value="1 0 0"/>
    <minDepth>0.003</minDepth>
    <turnGravityOff>false</turnGravityOff>
  </gazebo>
  <gazebo reference="WheelB_link">
    <mu1>0.5</mu1>
    <mu2>0.5</mu2>
    <kp value="10000000.0"/>
    <kd value="1.0"/>
    <fdir1 value="1 0 0"/>
    <minDepth>0.003</minDepth>
    <turnGravityOff>false</turnGravityOff>
  </gazebo>
  <gazebo reference="WheelFR_link">
    <mu1>0</mu1>
    <mu2>1</mu2>
    <kp value="10000000.0"/>
    <kd value="1.0"/>
    <fdir1 value="0 1 0"/>
    <minDepth>0.003</minDepth>
    <turnGravityOff>false</turnGravityOff>
  </gazebo>
  <gazebo reference="RFinger11_link">
    <mu1>0.5</mu1>
    <mu2>0.5</mu2>
    <selfCollide>false</selfCollide>
    <turnGravityOff>true</turnGravityOff>
  </gazebo>
  <gazebo reference="RFinger12_link">
    <mu1>0.5</mu1>
    <mu2>0.5</mu2>
    <selfCollide>false</selfCollide>
    <turnGravityOff>true</turnGravityOff>
  </gazebo>
  <gazebo reference="RFinger13_link">
    <mu1>0.5</mu1>
    <mu2>0.5</mu2>
    <selfCollide>false</selfCollide>
    <turnGravityOff>true</turnGravityOff>
  </gazebo>
  <gazebo reference="RFinger21_link">
    <mu1>0.5</mu1>
    <mu2>0.5</mu2>
    <selfCollide>false</selfCollide>
    <turnGravityOff>true</turnGravityOff>
  </gazebo>
  <gazebo reference="RFinger22_link">
    <mu1>0.5</mu1>
    <mu2>0.5</mu2>
    <selfCollide>false</selfCollide>
    <turnGravityOff>true</turnGravityOff>
  </gazebo>
  <gazebo reference="RFinger23_link">
    <mu1>0.5</mu1>
    <mu2>0.5</mu2>
    <selfCollide>false</selfCollide>
    <turnGravityOff>true</turnGravityOff>
  </gazebo>
  <gazebo reference="RFinger31_link">
    <mu1>0.5</mu1>
    <mu2>0.5</mu2>
    <selfCollide>false</selfCollide>
    <turnGravityOff>true</turnGravityOff>
  </gazebo>
  <gazebo reference="RFinger32_link">
    <mu1>0.5</mu1>
    <mu2>0.5</mu2>
    <selfCollide>false</selfCollide>
    <turnGravityOff>true</turnGravityOff>
  </gazebo>
  <gazebo reference="RFinger33_link">
    <mu1>0.5</mu1>
    <mu2>0.5</mu2>
    <selfCollide>false</selfCollide>
    <turnGravityOff>true</turnGravityOff>
  </gazebo>
  <gazebo reference="RFinger41_link">
    <mu1>0.5</mu1>
    <mu2>0.5</mu2>
    <selfCollide>false</selfCollide>
    <turnGravityOff>true</turnGravityOff>
  </gazebo>
  <gazebo reference="RFinger42_link">
    <mu1>0.5</mu1>
    <mu2>0.5</mu2>
    <selfCollide>false</selfCollide>
    <turnGravityOff>true</turnGravityOff>
  </gazebo>
  <gazebo reference="RFinger43_link">
    <mu1>0.5</mu1>
    <mu2>0.5</mu2>
    <selfCollide>false</selfCollide>
    <turnGravityOff>true</turnGravityOff>
  </gazebo>
  <gazebo reference="RThumb1_link">
    <mu1>0.5</mu1>
    <mu2>0.5</mu2>
    <selfCollide>false</selfCollide>
    <turnGravityOff>true</turnGravityOff>
  </gazebo>
  <gazebo reference="RThumb2_link">
    <mu1>0.5</mu1>
    <mu2>0.5</mu2>
    <selfCollide>false</selfCollide>
    <turnGravityOff>true</turnGravityOff>
  </gazebo>
  <!--
        RGB CAMERAS:
-->
  <gazebo reference="CameraTop_frame">
    <sensor name="CameraTop" type="camera">
      <update_rate>5.0</update_rate>
      <camera name="camera_top">
        <horizontal_fov>1.0</horizontal_fov>
        <image>
          <width>640</width>
          <height>480</height>
          <format>R8G8B8</format>
        </image>
        <clip>
          <near>0.3</near>
          <far>500</far>
        </clip>
        <noise>
          <type>gaussian</type>
          <mean>0.0</mean>
          <stddev>0.007</stddev>
        </noise>
      </camera>
      <plugin filename="libgazebo_ros_camera.so" name="camera_controller">
        <robotNamespace>/pepper_robot</robotNamespace>
        <alwaysOn>true</alwaysOn>
        <updateRate>5.0</updateRate>
        <cameraName>camera/front</cameraName>
        <imageTopicName>image_raw</imageTopicName>
        <cameraInfoTopicName>camera_info</cameraInfoTopicName>
        <frameName>CameraTop_optical_frame</frameName>
        <hackBaseline>0.07</hackBaseline>
        <distortionK1>-0.0545211</distortionK1>
        <distortionK2>0.06919734</distortionK2>
        <distortionK3>-0.0241095</distortionK3>
        <distortionT1>-0.0112245</distortionT1>
        <distortionT2>0.0</distortionT2>
      </plugin>
    </sensor>
  </gazebo>
  <gazebo reference="CameraBottom_frame">
    <sensor name="CameraBottom" type="camera">
      <update_rate>5.0</update_rate>
      <camera name="camera_bottom">
        <horizontal_fov>1.0</horizontal_fov>
        <image>
          <width>640</width>
          <height>480</height>
          <format>R8G8B8</format>
        </image>
        <clip>
          <near>0.05</near>
          <far>500</far>
        </clip>
        <noise>
          <type>gaussian</type>
          <mean>0.0</mean>
          <stddev>0.007</stddev>
        </noise>
      </camera>
      <plugin filename="libgazebo_ros_camera.so" name="camera_controller">
        <robotNamespace>/pepper_robot</robotNamespace>
        <alwaysOn>true</alwaysOn>
        <updateRate>5.0</updateRate>
        <cameraName>camera/bottom</cameraName>
        <imageTopicName>image_raw</imageTopicName>
        <cameraInfoTopicName>camera_info</cameraInfoTopicName>
        <frameName>CameraBottom_optical_frame</frameName>
        <hackBaseline>0.07</hackBaseline>
        <distortionK1>-0.0648764</distortionK1>
        <distortionK2>0.06125202</distortionK2>
        <distortionK3>0.00382815</distortionK3>
        <distortionT1>-0.00551104</distortionT1>
        <distortionT2>0.0</distortionT2>
      </plugin>
    </sensor>
  </gazebo>
  <gazebo reference="CameraDepth_frame">
    <sensor name="CameraDepth_frame_sensor" type="depth">
      <always_on>true</always_on>
      <update_rate>20.0</update_rate>
      <camera>
        <horizontal_fov>1.01229096616</horizontal_fov>
        <image>
          <format>B8G8R8</format>
          <width>320</width>
          <height>240</height>
        </image>
        <clip>
          <near>0.4</near>
          <far>8.0</far>
        </clip>
      </camera>
      <plugin filename="libgazebo_ros_openni_kinect.so" name="CameraDepth_frame_controller">
        <alwaysOn>true</alwaysOn>
        <updateRate>20.0</updateRate>
        <cameraName>pepper_robot/camera</cameraName>
        <imageTopicName>ir/image_raw</imageTopicName>
        <cameraInfoTopicName>depth/camera_info</cameraInfoTopicName>
        <depthImageTopicName>depth/image_raw</depthImageTopicName>
        <pointCloudTopicName>depth/points</pointCloudTopicName>
        <frameName>CameraDepth_optical_frame</frameName>
        <pointCloudCutoff>0.4</pointCloudCutoff>
        <pointCloudCutoffMax>8.0</pointCloudCutoffMax>
        <!-- <distortionK1>0.00000001</distortionK1>
          <distortionK2>0.00000001</distortionK2>
          <distortionK3>0.00000001</distortionK3>
          <distortionT1>0.00000001</distortionT1>
          <distortionT2>0.00000001</distortionT2> -->
      </plugin>
    </sensor>
  </gazebo>
  <!-- 
    BUMPERS

<gazebo reference="BumperB_frame">
  <mu1>0.5</mu1>
  <mu2>0.5</mu2>
  <selfCollide>false</selfCollide>
  <turnGravityOff>false</turnGravityOff>
  <fdir1>1 0 0</fdir1>
  <maxVel>0.1</maxVel>
  <minDepth>0.003</minDepth>
  <sensor name="BumperB" type="contact">
    <always_on>1</always_on>
    <update_rate>20</update_rate>
    <visualize>false</visualize>
    <contact>
      <collision>BumperB_frame_collision</collision>
    </contact>
    <plugin filename="libgazebo_ros_bumper.so" name="gazebo_pepper_BumperB">
      <robotNamespace>/pepper_robot</robotNamespace>
      <alwaysOn>true</alwaysOn>
      <bumperTopicName>Bumper/Back</bumperTopicName>
      <frameName>BumperB_frame</frameName>
    </plugin>
  </sensor>
</gazebo>

<gazebo reference="BumperFL_frame">
  <mu1>0.5</mu1>
  <mu2>0.5</mu2>
  <selfCollide>false</selfCollide>
  <turnGravityOff>false</turnGravityOff>
  <fdir1>1 0 0</fdir1>
  <maxVel>0.1</maxVel>
  <minDepth>0.003</minDepth>
  <sensor name="BumperFL" type="contact">
    <always_on>1</always_on>
    <update_rate>20</update_rate>
    <visualize>false</visualize>
    <contact>
      <collision>BumperFL_frame_collision</collision>
    </contact>
    <plugin filename="libgazebo_ros_bumper.so" name="gazebo_pepper_BumperFL">
      <robotNamespace>/pepper_robot</robotNamespace>
      <alwaysOn>true</alwaysOn>
      <bumperTopicName>Bumper/FrontLeft</bumperTopicName>
      <frameName>BumperFL_frame</frameName>
    </plugin>
  </sensor>
</gazebo>

<gazebo reference="BumperFR_frame">
  <mu1>0.5</mu1>
  <mu2>0.5</mu2>
  <selfCollide>false</selfCollide>
  <turnGravityOff>false</turnGravityOff>
  <fdir1>1 0 0</fdir1>
  <maxVel>0.1</maxVel>
  <minDepth>0.003</minDepth>
  <sensor name="BumperFR" type="contact">
    <always_on>1</always_on>
    <update_rate>20</update_rate>
    <visualize>false</visualize>
    <contact>
      <collision>BumperFR_frame_collision</collision>
    </contact>
    <plugin filename="libgazebo_ros_bumper.so" name="gazebo_pepper_BumperFR">
      <robotNamespace>/pepper_robot</robotNamespace>
      <alwaysOn>true</alwaysOn>
      <bumperTopicName>Bumper/FrontRight</bumperTopicName>
      <frameName>BumperFR_frame</frameName>
    </plugin>
  </sensor>
</gazebo>
-->
  <!--
    Sonars
-->
  <gazebo reference="SonarBack_frame">
    <sensor name="SonarBack" type="ray">
      <pose>0 0 0 0 0 0</pose>
      <update_rate>20</update_rate>
      <visualize>false</visualize>
      <ray>
        <scan>
          <horizontal>
            <samples>5</samples>
            <resolution>3</resolution>
            <min_angle>-0.52</min_angle>
            <max_angle>0.52</max_angle>
          </horizontal>
          <vertical>
            <samples>5</samples>
            <resolution>3</resolution>
            <min_angle>-0.52</min_angle>
            <max_angle>0.52</max_angle>
          </vertical>
        </scan>
        <range>
          <min>0.0</min>
          <max>5.0</max>
          <resolution>3</resolution>
        </range>
      </ray>
      <plugin filename="libgazebo_ros_range.so" name="gazebo_ros_range">
        <robotNamespace>/pepper_robot</robotNamespace>
        <gaussianNoise>0.05</gaussianNoise>
        <alwaysOn>true</alwaysOn>
        <updateRate>20</updateRate>
        <topicName>sonar_back</topicName>
        <frameName>SonarBack_frame</frameName>
        <minRange>0.0</minRange>
        <maxRange>5.0</maxRange>
        <fov>1.05</fov>
        <radiation>ultrasound</radiation>
      </plugin>
    </sensor>
  </gazebo>
  <gazebo reference="SonarFront_frame">
    <sensor name="SonarFront" type="ray">
      <pose>0 0 0 0 0 0</pose>
      <update_rate>20</update_rate>
      <visualize>false</visualize>
      <ray>
        <scan>
          <horizontal>
            <samples>5</samples>
            <resolution>3</resolution>
            <min_angle>-0.52</min_angle>
            <max_angle>0.52</max_angle>
          </horizontal>
          <vertical>
            <samples>5</samples>
            <resolution>3</resolution>
            <min_angle>-0.52</min_angle>
            <max_angle>0.52</max_angle>
          </vertical>
        </scan>
        <range>
          <min>0.0</min>
          <max>5.0</max>
          <resolution>3</resolution>
        </range>
      </ray>
      <plugin filename="libgazebo_ros_range.so" name="gazebo_ros_range">
        <robotNamespace>/pepper_robot</robotNamespace>
        <gaussianNoise>0.05</gaussianNoise>
        <alwaysOn>true</alwaysOn>
        <updateRate>20</updateRate>
        <topicName>sonar_front</topicName>
        <frameName>SonarFront_frame</frameName>
        <minRange>0.0</minRange>
        <maxRange>5.0</maxRange>
        <fov>1.05</fov>
        <radiation>ultrasound</radiation>
      </plugin>
    </sensor>
  </gazebo>
  <!-- Drive controller -->
  <gazebo>
    <plugin filename="libgazebo_ros_diff_drive.so" name="differential_drive_controller">
      <alwaysOn>true</alwaysOn>
      <updateRate>100</updateRate>
      <robotNamespace>/</robotNamespace>
      <leftJoint>WheelFL</leftJoint>
      <rightJoint>WheelFR</rightJoint>
      <wheelSeparation>0.170</wheelSeparation>
      <wheelDiameter>0.140</wheelDiameter>
      <torque>36.9</torque>
      <commandTopic>cmd_vel</commandTopic>
      <odometryTopic>odom_diffdrive</odometryTopic>
      <odometryFrame>odom</odometryFrame>
      <robotBaseFrame>base_footprint</robotBaseFrame>
    </plugin>
  </gazebo>
  <!-- HEAD -->
  <transmission name="HeadYaw_Transmission">
    <type>transmission_interface/SimpleTransmission</type>
    <joint name="HeadYaw">
      <hardwareInterface>PositionJointInterface</hardwareInterface>
    </joint>
    <actuator name="HeadYaw_Motor">
      <!-- Dummy Values -->
      <hardwareInterface>PositionJointInterface</hardwareInterface>
      <mechanicalReduction>101.3</mechanicalReduction>
    </actuator>
  </transmission>
  <transmission name="HeadPitch_Transmission">
    <type>transmission_interface/SimpleTransmission</type>
    <joint name="HeadPitch">
      <hardwareInterface>PositionJointInterface</hardwareInterface>
    </joint>
    <actuator name="HeadPitch_Motor">
      <!-- Dummy Values -->
      <hardwareInterface>PositionJointInterface</hardwareInterface>
      <mechanicalReduction>118.1</mechanicalReduction>
    </actuator>
  </transmission>
  <transmission name="LShoulderPitch_Transmission">
    <type>transmission_interface/SimpleTransmission</type>
    <joint name="LShoulderPitch">
      <hardwareInterface>PositionJointInterface</hardwareInterface>
    </joint>
    <actuator name="LShoulderPitch_Motor">
      <hardwareInterface>PositionJointInterface</hardwareInterface>
      <mechanicalReduction>101.3</mechanicalReduction>
    </actuator>
  </transmission>
  <transmission name="LShoulderRoll_Transmission">
    <type>transmission_interface/SimpleTransmission</type>
    <joint name="LShoulderRoll">
      <hardwareInterface>PositionJointInterface</hardwareInterface>
    </joint>
    <actuator name="LShoulderRoll_Motor">
      <hardwareInterface>PositionJointInterface</hardwareInterface>
      <mechanicalReduction>118.1</mechanicalReduction>
    </actuator>
  </transmission>
  <transmission name="LElbowYaw_Transmission">
    <type>transmission_interface/SimpleTransmission</type>
    <joint name="LElbowYaw">
      <hardwareInterface>PositionJointInterface</hardwareInterface>
    </joint>
    <actuator name="LElbowYaw_Motor">
      <hardwareInterface>PositionJointInterface</hardwareInterface>
      <mechanicalReduction>101.3</mechanicalReduction>
    </actuator>
  </transmission>
  <transmission name="LElbowRoll_Transmission">
    <type>transmission_interface/SimpleTransmission</type>
    <joint name="LElbowRoll">
      <hardwareInterface>PositionJointInterface</hardwareInterface>
    </joint>
    <actuator name="LElbowRoll_Motor">
      <hardwareInterface>PositionJointInterface</hardwareInterface>
      <mechanicalReduction>118.1</mechanicalReduction>
    </actuator>
  </transmission>
  <transmission name="LWristYaw_Transmission">
    <type>transmission_interface/SimpleTransmission</type>
    <joint name="LWristYaw">
      <hardwareInterface>PositionJointInterface</hardwareInterface>
    </joint>
    <actuator name="LWristYaw_Motor">
      <hardwareInterface>PositionJointInterface</hardwareInterface>
      <mechanicalReduction>118.1</mechanicalReduction>
    </actuator>
  </transmission>
  <transmission name="LGrasp_Transmission">
    <type>transmission_interface/SimpleTransmission</type>
    <joint name="LGrasp">
      <hardwareInterface>PositionJointInterface</hardwareInterface>
    </joint>
    <actuator name="LGrasp_Motor">
      <hardwareInterface>PositionJointInterface</hardwareInterface>
      <mechanicalReduction>36.24</mechanicalReduction>
    </actuator>
  </transmission>
  <transmission name="LHand_Transmission">
    <type>transmission_interface/SimpleTransmission</type>
    <joint name="LHand">
      <hardwareInterface>PositionJointInterface</hardwareInterface>
    </joint>
    <actuator name="LHand_Motor">
      <hardwareInterface>PositionJointInterface</hardwareInterface>
      <mechanicalReduction>36.24</mechanicalReduction>
    </actuator>
  </transmission>
  <transmission name="RShoulderPitch_Transmission">
    <type>transmission_interface/SimpleTransmission</type>
    <joint name="RShoulderPitch">
      <hardwareInterface>PositionJointInterface</hardwareInterface>
    </joint>
    <actuator name="RShoulderPitch_Motor">
      <hardwareInterface>PositionJointInterface</hardwareInterface>
      <mechanicalReduction>101.3</mechanicalReduction>
    </actuator>
  </transmission>
  <transmission name="RShoulderRoll_Transmission">
    <type>transmission_interface/SimpleTransmission</type>
    <joint name="RShoulderRoll">
      <hardwareInterface>PositionJointInterface</hardwareInterface>
    </joint>
    <actuator name="RShoulderRoll_Motor">
      <hardwareInterface>PositionJointInterface</hardwareInterface>
      <mechanicalReduction>118.1</mechanicalReduction>
    </actuator>
  </transmission>
  <transmission name="RElbowYaw_Transmission">
    <type>transmission_interface/SimpleTransmission</type>
    <joint name="RElbowYaw">
      <hardwareInterface>PositionJointInterface</hardwareInterface>
    </joint>
    <actuator name="RElbowYaw_Motor">
      <hardwareInterface>PositionJointInterface</hardwareInterface>
      <mechanicalReduction>101.3</mechanicalReduction>
    </actuator>
  </transmission>
  <transmission name="RElbowRoll_Transmission">
    <type>transmission_interface/SimpleTransmission</type>
    <joint name="RElbowRoll">
      <hardwareInterface>PositionJointInterface</hardwareInterface>
    </joint>
    <actuator name="RElbowRoll_Motor">
      <hardwareInterface>PositionJointInterface</hardwareInterface>
      <mechanicalReduction>118.1</mechanicalReduction>
    </actuator>
  </transmission>
  <transmission name="RWristYaw_Transmission">
    <type>transmission_interface/SimpleTransmission</type>
    <joint name="RWristYaw">
      <hardwareInterface>PositionJointInterface</hardwareInterface>
    </joint>
    <actuator name="RWristYaw_Motor">
      <hardwareInterface>PositionJointInterface</hardwareInterface>
      <mechanicalReduction>118.1</mechanicalReduction>
    </actuator>
  </transmission>
  <transmission name="RGrasp_Transmission">
    <type>transmission_interface/SimpleTransmission</type>
    <joint name="RGrasp">
      <hardwareInterface>PositionJointInterface</hardwareInterface>
    </joint>
    <actuator name="RGrasp_Motor">
      <hardwareInterface>PositionJointInterface</hardwareInterface>
      <mechanicalReduction>36.24</mechanicalReduction>
    </actuator>
  </transmission>
  <transmission name="RHand_Transmission">
    <type>transmission_interface/SimpleTransmission</type>
    <joint name="RHand">
      <hardwareInterface>PositionJointInterface</hardwareInterface>
    </joint>
    <actuator name="RHand_Motor">
      <hardwareInterface>PositionJointInterface</hardwareInterface>
      <mechanicalReduction>36.24</mechanicalReduction>
    </actuator>
  </transmission>
  <!-- LEGS -->
  <transmission name="HipRoll_Transmission">
    <type>transmission_interface/SimpleTransmission</type>
    <joint name="HipRoll">
      <hardwareInterface>PositionJointInterface</hardwareInterface>
    </joint>
    <actuator name="HipRoll_Motor">
      <!-- Dummy Values -->
      <hardwareInterface>PositionJointInterface</hardwareInterface>
      <mechanicalReduction>108.33</mechanicalReduction>
    </actuator>
  </transmission>
  <transmission name="HipPitch_Transmission">
    <type>transmission_interface/SimpleTransmission</type>
    <joint name="HipPitch">
      <hardwareInterface>PositionJointInterface</hardwareInterface>
    </joint>
    <actuator name="HipPitch_Motor">
      <!-- Dummy Values -->
      <hardwareInterface>PositionJointInterface</hardwareInterface>
      <mechanicalReduction>108.33</mechanicalReduction>
    </actuator>
  </transmission>
  <transmission name="KneePitch_Transmission">
    <type>transmission_interface/SimpleTransmission</type>
    <joint name="KneePitch">
      <hardwareInterface>PositionJointInterface</hardwareInterface>
    </joint>
    <actuator name="KneePitch_Motor">
      <!-- Dummy Values -->
      <hardwareInterface>PositionJointInterface</hardwareInterface>
      <mechanicalReduction>108.33</mechanicalReduction>
    </actuator>
  </transmission>
  <transmission name="WheelFL_Transmission">
    <type>transmission_interface/SimpleTransmission</type>
    <joint name="WheelFL">
      <hardwareInterface>EffortJointInterface</hardwareInterface>
    </joint>
    <actuator name="WheelFL_Motor">
      <!-- Dummy Values -->
      <hardwareInterface>EffortJointInterface</hardwareInterface>
      <mechanicalReduction>25.0</mechanicalReduction>
    </actuator>
  </transmission>
  <transmission name="WheelB_Transmission">
    <type>transmission_interface/SimpleTransmission</type>
    <joint name="WheelB">
      <hardwareInterface>EffortJointInterface</hardwareInterface>
    </joint>
    <actuator name="WheelB_Motor">
      <!-- Dummy Values -->
      <hardwareInterface>EffortJointInterface</hardwareInterface>
      <mechanicalReduction>25.0</mechanicalReduction>
    </actuator>
  </transmission>
  <transmission name="WheelFR_Transmission">
    <type>transmission_interface/SimpleTransmission</type>
    <joint name="WheelFR">
      <hardwareInterface>EffortJointInterface</hardwareInterface>
    </joint>
    <actuator name="WheelFR_Motor">
      <!-- Dummy Values -->
      <hardwareInterface>EffortJointInterface</hardwareInterface>
      <mechanicalReduction>25.0</mechanicalReduction>
    </actuator>
  </transmission>
</robot>
